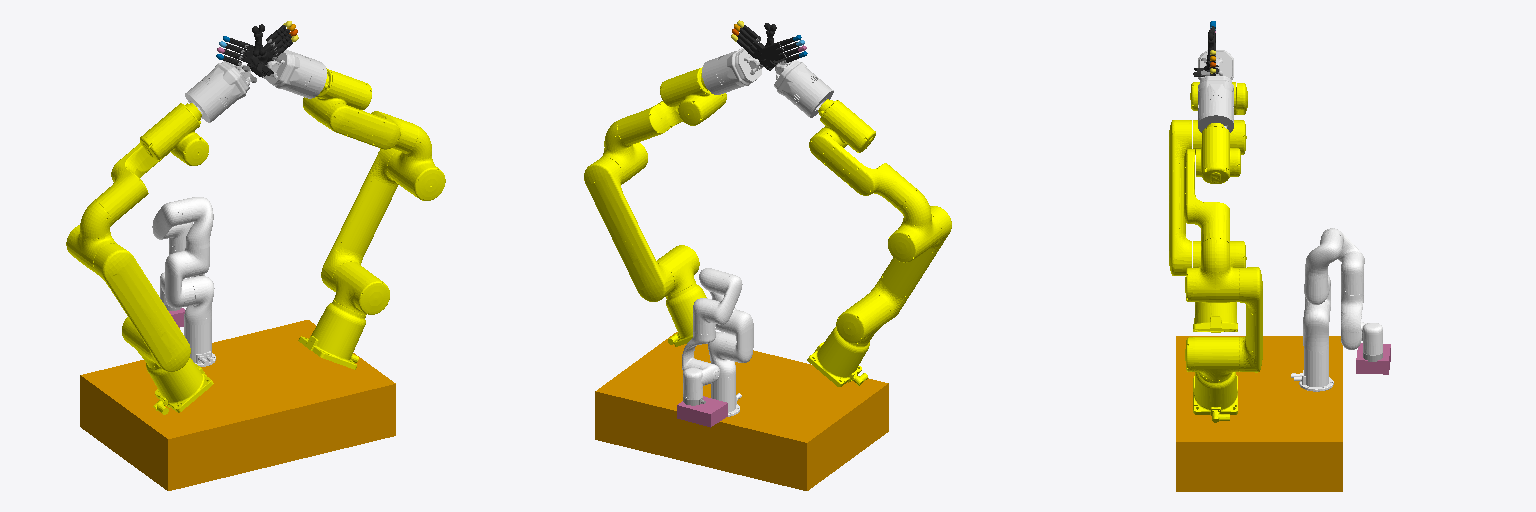
--- What the picture shows (computed from the rendered views, not written in the file) ---
Views: 3 orthographic renders of the robot side by side, from view 1: azimuth 30°, elevation 25°; view 2: azimuth 150°, elevation 25°; view 3: azimuth 270°, elevation 25°.
Model avatar with 100 links and 99 joints (66 revolute, 33 fixed), rooted at world, posed every joint at zero.
Visible links, largest first — view 1: avatar_mount_shopstand, gofa1_link_2, gofa2_link_2, xarm6_link2, gofa2_link_4, gofa2_base, gofa1_link_5, gofa2_link_3, gofa1_link_4, lh_forearm, gofa2_link_1, gofa1_base (+7 smaller); view 2: avatar_mount_shopstand, gofa2_link_2, gofa1_link_4, gofa1_link_2, gofa1_link_3, gofa1_base, gofa2_link_5, lh_forearm, rh_forearm, gofa1_link_1, xarm6_link2, gofa2_link_4 (+10 smaller); view 3: avatar_mount_shopstand, gofa1_link_2, gofa2_link_3, gofa2_link_2, gofa2_link_1, gofa2_link_4, gofa2_link_5, xarm6_link2, gofa2_base, rh_forearm, gofa1_base, xarm6_link1 (+8 smaller).
Link boxes in pixels (x1=…): avatar_mount_shopstand: x1=80, y1=320, x2=395, y2=490; gofa1_link_2: x1=93, y1=243, x2=190, y2=371; gofa2_link_2: x1=321, y1=148, x2=398, y2=291; xarm6_link2: x1=165, y1=197, x2=213, y2=308; gofa2_link_4: x1=326, y1=103, x2=417, y2=152; gofa2_base: x1=298, y1=300, x2=365, y2=369; gofa1_link_5: x1=140, y1=104, x2=208, y2=165; gofa2_link_3: x1=387, y1=125, x2=445, y2=200; gofa1_link_4: x1=94, y1=143, x2=169, y2=222; lh_forearm: x1=185, y1=61, x2=250, y2=122; gofa2_link_1: x1=332, y1=262, x2=389, y2=314; gofa1_base: x1=146, y1=358, x2=213, y2=414; avatar_mount_shopstand: x1=595, y1=332, x2=888, y2=490; gofa2_link_2: x1=584, y1=158, x2=674, y2=301; gofa1_link_4: x1=809, y1=132, x2=917, y2=210; gofa1_link_2: x1=866, y1=206, x2=951, y2=321; gofa1_link_3: x1=888, y1=190, x2=941, y2=262; gofa1_base: x1=807, y1=327, x2=869, y2=386; gofa2_link_5: x1=660, y1=68, x2=722, y2=125; lh_forearm: x1=774, y1=60, x2=833, y2=117; rh_forearm: x1=702, y1=48, x2=762, y2=94; gofa1_link_1: x1=836, y1=294, x2=890, y2=343; xarm6_link2: x1=699, y1=268, x2=753, y2=362; gofa2_link_4: x1=617, y1=93, x2=726, y2=144; avatar_mount_shopstand: x1=1176, y1=336, x2=1342, y2=491; gofa1_link_2: x1=1169, y1=120, x2=1191, y2=275; gofa2_link_3: x1=1185, y1=238, x2=1238, y2=302; gofa2_link_2: x1=1239, y1=267, x2=1262, y2=372; gofa2_link_1: x1=1185, y1=337, x2=1238, y2=380; gofa2_link_4: x1=1184, y1=149, x2=1229, y2=245; gofa2_link_5: x1=1196, y1=127, x2=1240, y2=183; xarm6_link2: x1=1304, y1=230, x2=1343, y2=308; gofa2_base: x1=1193, y1=372, x2=1237, y2=422; rh_forearm: x1=1198, y1=74, x2=1233, y2=132; gofa1_base: x1=1193, y1=302, x2=1237, y2=332; xarm6_link1: x1=1303, y1=301, x2=1330, y2=351.
Bounding box of the posed robot: 1.41 × 0.8133 × 1.63 m (x, y, z).
Meshes: 25 distinct files referenced, 67 mesh visuals loaded (25 OBJ).

URDF robot description (avatar):
<?xml version="1.0" ?>
<robot name="avatar" xmlns:controller="http://playerstage.sourceforge.net/gazebo/xmlschema/#controller" xmlns:interface="http://playerstage.sourceforge.net/gazebo/xmlschema/#interface" xmlns:sensor="http://playerstage.sourceforge.net/gazebo/xmlschema/#sensor">
  <!-- Avatar mounting shopstand, y forward, z up -->
  <link name="avatar_mount_shopstand">
    <visual>
      <origin rpy="0 0 0" xyz="0.4572 0.3048 -0.1"/>
      <geometry>
        <box size="0.9144 0.6096 0.2"/>
      </geometry>
    </visual>
  </link>
  <!-- World Connection -->
  <link name="world"/>
  <joint name="avatar_mount_shopstand" type="fixed">
    <parent link="world"/>
    <child link="avatar_mount_shopstand"/>
    <origin rpy="0.0 0.0 0.0" xyz="0.1 0.1 0.0"/>
  </joint>
  <!-- connect avatar mount shopstand to gofa 1 -->
  <joint name="gofa1_workspace" type="fixed">
    <parent link="avatar_mount_shopstand"/>
    <child link="gofa1_workspace"/>
    <origin rpy="0.0 0.0 0.0" xyz="0.1524 0.14605 0.0"/>
  </joint>
  <material name="Blue">
    <color rgba="0.0 0.0 0.8 1.0"/>
  </material>
  <material name="Green">
    <color rgba="0.0 0.8 0.0 1.0"/>
  </material>
  <material name="BiotacGreen">
    <color rgba="0.31 0.85 0.42 1.0"/>
  </material>
  <material name="Grey">
    <color rgba="0.2 0.2 0.2 1.0"/>
  </material>
  <material name="LightGrey">
    <color rgba="0.6 0.6 0.6 1.0"/>
  </material>
  <material name="Red">
    <color rgba="0.8 0.0 0.0 1.0"/>
  </material>
  <material name="White">
    <color rgba="1.0 1.0 1.0 1.0"/>
  </material>
  <gazebo>
    <plugin filename="libgazebo_ros_control.so" name="gazebo_ros_control">
      <robotSimType>sr_gazebo_sim/SrGazeboHWSim</robotSimType>
    </plugin>
  </gazebo>
  <!-- Conversion were obtained from http://www.e-paint.co.uk/Lab_values.asp
       unless otherwise stated. -->
  <!-- link list -->
  <link name="gofa1_base">
    <!-- See note 1 in package.xml about the inertial and mass values -->
    <inertial>
      <mass value="3.50083457958494"/>
      <origin xyz="-0.0012013793465437 -0.000175191786981708 0.0862146007385352"/>
      <inertia ixx="0.0153015257917955" ixy="-6.40155032892694E-05" ixz="-0.000276708687772683" iyy="0.0159333503953857" iyz="-3.98029144780725E-05" izz="0.0112162302268266"/>
    </inertial>
    <collision name="collision">
      <geometry>
        <mesh filename="avatar_model/abb_gofa/meshes/collision_obj/base.obj"/>
      </geometry>
    </collision>
    <visual name="visual">
      <geometry>
        <mesh filename="avatar_model/abb_gofa/meshes/visual_obj/base.obj"/>
      </geometry>
      <material name="">
        <color rgba="1 1 0 1"/>
      </material>
    </visual>
  </link>
  <link name="gofa1_link_1">
    <!-- See note 1 in package.xml about the inertial and mass values -->
    <inertial>
      <mass value="2.76743491139404"/>
      <origin xyz="2.08682453325091E-06 0.0103608399967513 0.0705307203199506"/>
      <inertia ixx="0.0115158625894577" ixy="6.37197693598838E-08" ixz="5.98954393680154E-09" iyy="0.006494848329231" iyz="-0.000196668400316843" izz="0.0109446835358581"/>
    </inertial>
    <collision name="collision">
      <geometry>
        <mesh filename="avatar_model/abb_gofa/meshes/collision_obj/link_1.obj"/>
      </geometry>
    </collision>
    <visual name="visual">
      <geometry>
        <mesh filename="avatar_model/abb_gofa/meshes/visual_obj/link_1.obj"/>
      </geometry>
      <material name="">
        <color rgba="1 1 0 1"/>
      </material>
    </visual>
  </link>
  <link name="gofa1_link_2">
    <!-- See note 1 in package.xml about the inertial and mass values -->
    <inertial>
      <mass value="4.2890416"/>
      <origin xyz="1.34018352211628E-06 -0.0500118376116071 0.222001399322246"/>
      <inertia ixx="0.130524729873898" ixy="1.31811857134115E-07" ixz="1.99022457670482E-06" iyy="0.133278449324229" iyz="-4.48622200366709E-07" izz="0.00669457974697178"/>
    </inertial>
    <collision name="collision">
      <geometry>
        <mesh filename="avatar_model/abb_gofa/meshes/collision_obj/link_2.obj"/>
      </geometry>
    </collision>
    <visual name="visual">
      <geometry>
        <mesh filename="avatar_model/abb_gofa/meshes/visual_obj/link_2.obj"/>
      </geometry>
      <material name="">
        <color rgba="1 1 0 1"/>
      </material>
    </visual>
  </link>
  <link name="gofa1_link_3">
    <!-- See note 1 in package.xml about the inertial and mass values -->
    <inertial>
      <mass value="3.38333107992875"/>
      <origin xyz="0.0128129281453599 0.0944171780907046 0.0247427540642403"/>
      <inertia ixx="0.0175626138728642" ixy="0.000364866179108744" ixz="-0.00318670290285352" iyy="0.0140230068919562" iyz="0.000704668055158407" izz="0.013275205067567"/>
    </inertial>
    <collision name="collision">
      <geometry>
        <mesh filename="avatar_model/abb_gofa/meshes/collision_obj/link_3.obj"/>
      </geometry>
    </collision>
    <visual name="visual">
      <geometry>
        <mesh filename="avatar_model/abb_gofa/meshes/visual_obj/link_3.obj"/>
      </geometry>
      <material name="">
        <color rgba="1 1 0 1"/>
      </material>
    </visual>
  </link>
  <link name="gofa1_link_4">
    <!-- See note 1 in package.xml about the inertial and mass values -->
    <inertial>
      <mass value="2.77857535641324"/>
      <origin xyz="0.160558561602322 0.041976811408979 -2.36623354021859E-07"/>
      <inertia ixx="0.00881683095901354" ixy="-0.010746260580237" ixz="1.2899930119841E-07" iyy="0.0340754175571832" iyz="3.96362791626429E-08" izz="0.0389358932156922"/>
    </inertial>
    <collision name="collision">
      <geometry>
        <mesh filename="avatar_model/abb_gofa/meshes/collision_obj/link_4.obj"/>
      </geometry>
    </collision>
    <visual name="visual">
      <geometry>
        <mesh filename="avatar_model/abb_gofa/meshes/visual_obj/link_4.obj"/>
      </geometry>
      <material name="">
        <color rgba="1 1 0 1"/>
      </material>
    </visual>
  </link>
  <link name="gofa1_link_5">
    <!-- See note 1 in package.xml about the inertial and mass values -->
    <inertial>
      <mass value="3.01105814739001"/>
      <origin xyz="-0.0147152361879962 -0.0785646469392633 0.0427558021601431"/>
      <inertia ixx="0.0114597336686444" ixy="0.000180094704361231" ixz="0.00165207280226761" iyy="0.013561904467501" iyz="-0.000525272443978826" izz="0.0108480119549914"/>
    </inertial>
    <collision name="collision">
      <geometry>
        <mesh filename="avatar_model/abb_gofa/meshes/collision_obj/link_5.obj"/>
      </geometry>
    </collision>
    <visual name="visual">
      <geometry>
        <mesh filename="avatar_model/abb_gofa/meshes/visual_obj/link_5.obj"/>
      </geometry>
      <material name="">
        <color rgba="1 1 0 1"/>
      </material>
    </visual>
  </link>
  <link name="gofa1_link_6">
    <!-- See note 1 in package.xml about the inertial and mass values -->
    <inertial>
      <mass value="0.146500988015653"/>
      <origin rpy="0 0 0" xyz="0.0137506852604966 0.000239804131398652 -0.000341962798940165"/>
      <inertia ixx="0.000128977630055306" ixy="-8.7622752508613E-08" ixz="1.18851551870012E-07" iyy="7.61118177829087E-05" iyz="-6.49821554399679E-07" izz="7.65022909768016E-05"/>
    </inertial>
    <!-- Meshlab calculated values (below) make gazebo crash when rotating this joint. -->
    <!-- <inertial>
        <mass value="0.00686711"/>
        <origin xyz="-0.00250976 -1.89e-06 0.00010218"/>
        <inertia ixx="1.3517e-06" ixy="-1.21316e-11" ixz="9.18065e-12" iyy="6.89813e-07" iyz="-1.21534e-10" izz="6.90097e-07"/>
      </inertial> -->
    <collision name="collision">
      <geometry>
        <mesh filename="avatar_model/abb_gofa/meshes/collision_obj/link_6.obj"/>
      </geometry>
    </collision>
    <visual name="visual">
      <geometry>
        <mesh filename="avatar_model/abb_gofa/meshes/visual_obj/link_6.obj"/>
      </geometry>
      <material name="">
        <color rgba="1 1 0 1"/>
      </material>
    </visual>
  </link>
  <!-- end of link list -->
  <!-- joint list -->
  <joint name="gofa1_joint_1" type="revolute">
    <origin rpy="0 0 0" xyz="0 0 0.1875"/>
    <axis xyz="0 0 1"/>
    <parent link="gofa1_base"/>
    <child link="gofa1_link_1"/>
    <!-- See note 2 in package.xml about effort limits and dynamics values -->
    <limit effort="1000" lower="-2.967" upper="2.967" velocity="5.027"/>
    <dynamics damping="50.0" friction="1.0"/>
  </joint>
  <joint name="gofa1_joint_2" type="revolute">
    <origin rpy="0 0 0" xyz="0 -0.085 0.0775"/>
    <axis xyz="0 1 0"/>
    <parent link="gofa1_link_1"/>
    <child link="gofa1_link_2"/>
    <!-- See note 2 in package.xml about effort limits and dynamics values -->
    <limit effort="1000" lower="-1.745" upper="2.269" velocity="4.189"/>
    <dynamics damping="50.0" friction="1.0"/>
  </joint>
  <joint name="gofa1_joint_3" type="revolute">
    <origin rpy="0 0 0" xyz="0 -0.00100000000000007 0.444"/>
    <axis xyz="0 1 0"/>
    <parent link="gofa1_link_2"/>
    <child link="gofa1_link_3"/>
    <!-- See note 2 in package.xml about effort limits and dynamics values -->
    <limit effort="1000" lower="-3.491" upper="1.222" velocity="5.236"/>
    <dynamics damping="10.0" friction="1.0"/>
  </joint>
  <joint name="gofa1_joint_4" type="revolute">
    <origin rpy="0 0 0" xyz="0.096 0.0860000000000001 0.11"/>
    <axis xyz="1 0 0"/>
    <parent link="gofa1_link_3"/>
    <child link="gofa1_link_4"/>
    <!-- See note 2 in package.xml about effort limits and dynamics values -->
    <limit effort="1000" lower="-4.712" upper="4.712" velocity="6.981"/>
    <dynamics damping="5.0" friction="1.0"/>
  </joint>
  <joint name="gofa1_joint_5" type="revolute">
    <origin rpy="0 0 0" xyz="0.374 0.0744999999999998 0"/>
    <axis xyz="0 1 0"/>
    <parent link="gofa1_link_4"/>
    <child link="gofa1_link_5"/>
    <!-- See note 2 in package.xml about effort limits and dynamics values -->
    <limit effort="1000" lower="-2.269" upper="2.269" velocity="7.069"/>
    <dynamics damping="2.0" friction="1.0"/>
  </joint>
  <joint name="gofa1_joint_6" type="revolute">
    <origin rpy="0 0 0" xyz="0.0679999999999995 -0.0744999999999998 0.0800000000000003"/>
    <axis xyz="1 0 0"/>
    <parent link="gofa1_link_5"/>
    <child link="gofa1_link_6"/>
    <!-- See note 2 in package.xml about effort limits and dynamics values -->
    <limit effort="1000" lower="-6.283" upper="6.283" velocity="10.472"/>
    <dynamics damping="1.0" friction="1.0"/>
  </joint>
  <!-- end of joint list -->
  <!-- ROS-Industrial 'base' frame- base_link to ABB World Coordinates transform -->
  <link name="gofa1_base_link"/>
  <joint name="gofa1_base_link-base" type="fixed">
    <origin rpy="0 0 0" xyz="0 0 0"/>
    <parent link="gofa1_base_link"/>
    <child link="gofa1_base"/>
  </joint>
  <!-- ROS-Industrial 'tool0' frame- all-zeros tool frame -->
  <link name="gofa1_tool0"/>
  <joint name="gofa1_link_6-tool0" type="fixed">
    <origin rpy="0 1.5708 0" xyz="0.0326 0 0"/>
    <parent link="gofa1_link_6"/>
    <child link="gofa1_tool0"/>
  </joint>
  <joint name="lh_world_joint" type="fixed">
    <parent link="gofa1_tool0"/>
    <child link="lh_forearm"/>
    <origin rpy="0.0 0.0 0.0" xyz="0.0 0.0 0.007"/>
  </joint>
  <link name="lh_forearm">
    <inertial>
      <origin rpy="0 0 0" xyz="0 0 0.09"/>
      <mass value="3.0"/>
      <inertia ixx="0.0138" ixy="0.0" ixz="0.0" iyy="0.0138" iyz="0.0" izz="0.00744"/>
    </inertial>
    <visual>
      <origin rpy="0 0 0" xyz="0 0 0.0"/>
      <geometry name="lh_forearm_visual">
        <mesh filename="avatar_model/shadow_hand/meshes_drake/forearm_e3m5.obj" scale="0.001 0.001 0.001"/>
      </geometry>
      <material name="light_grey">
        <color rgba="0.90000 0.90000 0.90000 1.0"/>
      </material>
    </visual>
    <collision>
      <origin rpy="0 0 0" xyz="0 0 0.0"/>
      <geometry name="lh_forearm_collision">
        <mesh filename="avatar_model/shadow_hand/meshes_drake/forearm_collision_e3m5.obj" scale="0.001 0.001 0.001"/>
      </geometry>
    </collision>
    <!-- wrist mount -->
    <collision>
      <origin rpy="0 0.78 0" xyz="0 -0.01 0.181"/>
      <geometry>
        <box size="0.07 0.07 0.07"/>
      </geometry>
    </collision>
    <!-- TODO: Make a decision on whether to add the connector or not -->
    <!--visual>
        <origin rpy="0 -1.57 -1.57" xyz="0.0 0.067 0.0045"/>
        <geometry name="${prefix}cable_extr_visualisation">
          <mesh filename="avatar_model/shadow_hand/meshes/collision_obj/cable_connector/cable_connector_base_${hand_version}.dae" scale="0.001 0.001 0.001" />
        </geometry>
      </visual-->
  </link>
  <gazebo reference="lh_forearm">
    <selfCollide>false</selfCollide>
  </gazebo>
  <link name="lh_wrist">
    <inertial>
      <origin rpy="0 0 0" xyz="0 0 0.029"/>
      <mass value="0.1"/>
      <inertia ixx="0.000035" ixy="0.0" ixz="0.0" iyy="0.000064" iyz="0.0" izz="0.0000438"/>
    </inertial>
    <visual>
      <origin rpy="0 0 0" xyz="0 0 0"/>
      <geometry name="lh_wrist_visual">
        <mesh filename="avatar_model/shadow_hand/meshes_drake/wrist_e3m5.obj" scale="0.001 0.001 0.001"/>
      </geometry>
      <material name="LightGrey"/>
    </visual>
    <collision>
      <origin rpy="1.5708 1.5708 0" xyz="0 0 0"/>
      <geometry name="lh_wrist_collision_geom">
        <cylinder length="0.030" radius="0.0135"/>
      </geometry>
    </collision>
    <collision>
      <origin rpy="0 1.5708 0" xyz="0.026 0 0.034"/>
      <geometry>
        <cylinder length="0.010" radius="0.011"/>
      </geometry>
    </collision>
    <collision>
      <origin rpy="0 1.5708 0" xyz="-0.031 0 0.034"/>
      <geometry>
        <cylinder length="0.010" radius="0.011"/>
      </geometry>
    </collision>
    <collision>
      <origin rpy="0 -0.7854 0" xyz="0.021 0 0.011"/>
      <geometry>
        <box size="0.027 0.018 0.010"/>
      </geometry>
    </collision>
    <collision>
      <origin rpy="0 0.7854 0" xyz="-0.026 0 0.010"/>
      <geometry>
        <box size="0.027 0.018 0.010"/>
      </geometry>
    </collision>
  </link>
  <gazebo reference="lh_wrist">
    <material>Gazebo/White</material>
    <selfCollide>false</selfCollide>
  </gazebo>
  <joint name="lh_WRJ2" type="revolute">
    <parent link="lh_forearm"/>
    <child link="lh_wrist"/>
    <origin rpy="0 0 0" xyz="0 -0.010 0.21301"/>
    <axis xyz="0 -1 0"/>
    <limit effort="10" lower="-0.5235987755982988" upper="0.17453292519943295" velocity="2.0"/>
    <dynamics damping="0.1"/>
  </joint>
  <gazebo reference="lh_WRJ2">
    <provideFeedback>1</provideFeedback>
    <implicitSpringDamper>1</implicitSpringDamper>
  </gazebo>
  <transmission name="lh_wrist_transmission">
    <type>sr_mechanism_model/SimpleTransmission</type>
    <actuator name="lh_WRJ2">
      <mechanicalReduction>1</mechanicalReduction>
    </actuator>
    <joint name="lh_WRJ2">
      <hardwareInterface>EffortJointInterface</hardwareInterface>
      <hardwareInterface>PositionJointInterface</hardwareInterface>
    </joint>
  </transmission>
  <link name="lh_palm">
    <inertial>
      <origin rpy="0 0 0" xyz="0 0 0.035"/>
      <mass value="0.3"/>
      <inertia ixx="0.0003581" ixy="0.0" ixz="0.0" iyy="0.0005287" iyz="0.0" izz="0.000191"/>
    </inertial>
    <visual>
      <origin rpy="0 0 0" xyz="0 0 0"/>
      <geometry name="lh_palm_visual">
        <mesh filename="avatar_model/shadow_hand/meshes_drake/palm_e3m5.obj" scale="0.001 0.001 0.001"/>
      </geometry>
      <material name="Grey"/>
    </visual>
    <collision>
      <origin rpy="0 0 0" xyz="-0.011 0.0085 0.038"/>
      <geometry name="lh_palm_collision_geom">
        <box size="0.062 0.007 0.098"/>
      </geometry>
    </collision>
    <collision>
      <origin rpy="0 0 0" xyz="0.002 -0.0035 0.038"/>
      <geometry>
        <box size="0.036 0.017 0.098"/>
      </geometry>
    </collision>
    <!-- palm complement below first finger -->
    <collision>
      <origin rpy="0 0 0" xyz="-0.029 -0.0035 0.082"/>
      <geometry>
        <box size="0.026 0.017 0.010"/>
      </geometry>
    </collision>
    <collision>
      <origin rpy="0.2 0 -0.25" xyz="-0.0265 -0.001 0.070"/>
      <geometry>
        <box size="0.026 0.014 0.018"/>
      </geometry>
    </collision>
    <!-- thumb pulp side -->
    <collision>
      <origin rpy="0 0 0" xyz="-0.0315 -0.0085 0.001"/>
      <geometry>
        <box size="0.021 0.027 0.024"/>
      </geometry>
    </collision>
    <!-- thumb pulp central -->
    <collision>
      <origin rpy="0 0 0.48" xyz="-0.0125 -0.015 0.009"/>
      <geometry>
        <box size="0.022 0.005 0.040"/>
      </geometry>
    </collision>
    <!-- above middle finger-->
    <collision>
      <origin rpy="0 0 0" xyz="-0.011 0 0.089"/>
      <geometry>
        <box size="0.018 0.024 0.004"/>
      </geometry>
    </collision>
    <!-- metacarpal side-->
    <collision>
      <origin rpy="0 0 0" xyz="0.03 0 0.009"/>
      <geometry>
        <box size="0.020 0.024 0.040"/>
      </geometry>
    </collision>
  </link>
  <joint name="lh_ee_fixed_joint" type="fixed">
    <parent link="lh_palm"/>
    <child link="lh_manipulator"/>
    <origin rpy="0.0 0.0 0.0" xyz="0.0 0.0 0.05"/>
  </joint>
  <link name="lh_manipulator"/>
  <joint name="lh_WRJ1" type="revolute">
    <parent link="lh_wrist"/>
    <child link="lh_palm"/>
    <origin rpy="0 0 0" xyz="0 0 0.034"/>
    <axis xyz="1 0 0"/>
    <limit effort="30" lower="-0.6981317007977318" upper="0.4886921905584123" velocity="2.0"/>
    <dynamics damping="0.1"/>
  </joint>
  <gazebo reference="lh_WRJ1">
    <provideFeedback>1</provideFeedback>
    <implicitSpringDamper>1</implicitSpringDamper>
  </gazebo>
  <link name="lh_imu"/>
  <joint name="lh_palm_to_imu" type="fixed">
    <parent link="lh_palm"/>
    <child link="lh_imu"/>
    <origin rpy="-1.5707963 3.141592 0.0" xyz="0.01785 0.00765 0.049125"/>
  </joint>
  <transmission name="lh_palm_transmission">
    <type>sr_mechanism_model/SimpleTransmission</type>
    <actuator name="lh_WRJ1">
      <mechanicalReduction>1</mechanicalReduction>
    </actuator>
    <joint name="lh_WRJ1">
      <hardwareInterface>EffortJointInterface</hardwareInterface>
      <hardwareInterface>PositionJointInterface</hardwareInterface>
    </joint>
  </transmission>
  <gazebo reference="lh_palm">
  </gazebo>
  <link name="lh_ffknuckle">
    <inertial>
      <origin rpy="0 0 0" xyz="0 0 0"/>
      <mass value="0.008"/>
      <inertia ixx="0.00000026" ixy="0.0" ixz="0.0" iyy="0.00000026" iyz="0.0" izz="0.00000032"/>
    </inertial>
    <visual>
      <origin rpy="0 0 0" xyz="0 0 0.0005"/>
      <geometry name="lh_ffknuckle_visual">
        <mesh filename="avatar_model/shadow_hand/meshes_drake/f_knuckle_e3m5.obj" scale="0.001 0.001 0.001"/>
      </geometry>
      <material name="LightGrey"/>
    </visual>
    <collision>
      <origin rpy="0 1.5708 0" xyz="0 0 0"/>
      <geometry name="lh_ffknuckle_collision_geom">
        <cylinder length="0.014" radius="0.007"/>
      </geometry>
    </collision>
  </link>
  <joint name="lh_FFJ4" type="revolute">
    <parent link="lh_palm"/>
    <child link="lh_ffknuckle"/>
    <!--<origin xyz="0.033 0 0.095" rpy="0 0 0" />-->
    <origin rpy="0 0 0" xyz="-0.033 0 0.095"/>
    <axis xyz="0 1 0"/>
    <limit effort="2" lower="-0.3490658503988659" upper="0.3490658503988659" velocity="2.0"/>
    <dynamics damping="0.1"/>
  </joint>
  <gazebo reference="lh_FFJ4">
    <provideFeedback>1</provideFeedback>
    <implicitSpringDamper>1</implicitSpringDamper>
  </gazebo>
  <transmission name="lh_ffknuckle_transmission">
    <type>sr_mechanism_model/SimpleTransmission</type>
    <actuator name="lh_FFJ4">
      <mechanicalReduction>1</mechanicalReduction>
    </actuator>
    <joint name="lh_FFJ4">
      <hardwareInterface>EffortJointInterface</hardwareInterface>
      <hardwareInterface>PositionJointInterface</hardwareInterface>
    </joint>
  </transmission>
  <gazebo reference="lh_ffknuckle">
    <!-- knuckle is not highly exposed, so bumper is not useful -->
    <material>Gazebo/Grey</material>
  </gazebo>
  <link name="lh_ffproximal">
    <inertial>
      <mass value="0.030"/>
      <origin xyz="0 0 0.0225"/>
      <inertia ixx="0.0000098" ixy="0.0" ixz="0.0" iyy="0.00001" iyz="0.0" izz="0.0000018"/>
    </inertial>
    <visual>
      <origin rpy="0 0 0" xyz="0 0 0"/>
      <geometry name="lh_ffproximal_visual">
        <mesh filename="avatar_model/shadow_hand/meshes_drake/f_proximal_e3m5.obj" scale="0.001 0.001 0.001"/>
      </geometry>
      <material name="Grey"/>
    </visual>
    <collision>
      <origin rpy="0 0 0" xyz="0 0 0.025"/>
      <geometry name="lh_ffproximal_collision_geom">
        <cylinder length="0.040" radius="0.007"/>
      </geometry>
    </collision>
  </link>
  <joint name="lh_FFJ3" type="revolute">
    <parent link="lh_ffknuckle"/>
    <child link="lh_ffproximal"/>
    <origin rpy="0 0 0" xyz="0 0 0"/>
    <axis xyz="1 0 0"/>
    <limit effort="2" lower="-0.2617993877991494" upper="1.5707963267948966" velocity="2.0"/>
    <dynamics damping="0.1"/>
  </joint>
  <gazebo reference="lh_FFJ3">
    <provideFeedback>1</provideFeedback>
    <implicitSpringDamper>1</implicitSpringDamper>
  </gazebo>
  <transmission name="lh_ffproximal_transmission">
    <type>sr_mechanism_model/SimpleTransmission</type>
    <actuator name="lh_FFJ3">
      <mechanicalReduction>1</mechanicalReduction>
    </actuator>
    <joint name="lh_FFJ3">
      <hardwareInterface>EffortJointInterface</hardwareInterface>
      <hardwareInterface>PositionJointInterface</hardwareInterface>
    </joint>
  </transmission>
  <gazebo reference="lh_ffproximal">
    <selfCollide>true</selfCollide>
  </gazebo>
  <link name="lh_ffmiddle">
    <inertial>
      <origin rpy="0 0 0" xyz="0 0 0.0125"/>
      <mass value="0.017"/>
      <inertia ixx="0.0000026" ixy="0.0" ixz="0.0" iyy="0.0000027" iyz="0.0" izz="0.00000087"/>
    </inertial>
    <visual>
      <origin rpy="0 0 0" xyz="0 0 0"/>
      <geometry name="lh_ffmiddle_visual">
        <mesh filename="avatar_model/shadow_hand/meshes_drake/f_middle_e3m5.obj" scale="0.001 0.001 0.001"/>
      </geometry>
      <material name="Grey"/>
    </visual>
    <collision>
      <origin rpy="0 0 0" xyz="0 0 0.0125"/>
      <geometry name="lh_ffmiddle_collision_geom">
        <cylinder length="0.025" radius="0.007"/>
      </geometry>
    </collision>
    <collision>
      <origin rpy="0 0 0" xyz="0 0 0.0"/>
      <geometry>
        <sphere radius="0.007"/>
      </geometry>
    </collision>
    <collision>
      <origin rpy="0 0 0" xyz="0 0 0.025"/>
      <geometry>
        <sphere radius="0.007"/>
      </geometry>
    </collision>
  </link>
  <joint name="lh_FFJ2" type="revolute">
    <parent link="lh_ffproximal"/>
    <child link="lh_ffmiddle"/>
    <origin rpy="0 0 0" xyz="0 0 0.045"/>
    <axis xyz="1 0 0"/>
    <limit effort="2" lower="0" upper="1.5707963267948966" velocity="2.0"/>
    <dynamics damping="0.1"/>
  </joint>
  <gazebo reference="lh_FFJ2">
    <provideFeedback>1</provideFeedback>
    <implicitSpringDamper>1</implicitSpringDamper>
  </gazebo>
  <transmission name="lh_ffmiddle_transmission">
    <type>sr_mechanism_model/J0Transmission</type>
    <actuator name="lh_FFJ0">
      <mechanicalReduction>1</mechanicalReduction>
    </actuator>
    <joint name="lh_FFJ1">
      <hardwareInterface>EffortJointInterface</hardwareInterface>
      <hardwareInterface>PositionJointInterface</hardwareInterface>
    </joint>
  </transmission>
  <gazebo reference="lh_ffmiddle">
    <selfCollide>true</selfCollide>
  </gazebo>
  <link name="lh_ffdistal">
    <inertial>
      <mass value="0.012"/>
      <origin xyz="0 0 0.012"/>
      <inertia ixx="0.00000094" ixy="0.0" ixz="0.0" iyy="0.0000011" iyz="0.0" izz="0.00000053"/>
    </inertial>
    <visual>
      <origin rpy="0 0 0" xyz="0 0 0"/>
      <geometry name="lh_ffdistal_visual">
        <mesh filename="avatar_model/shadow_hand/meshes_drake/f_distal_bt_sp.obj" scale="0.001 0.001 0.001"/>
      </geometry>
    </visual>
    <collision>
      <origin rpy="0 0 0" xyz="0 0 0"/>
      <geometry name="lh_ffdistal_collision_geom">
        <mesh filename="avatar_model/shadow_hand/meshes_drake/f_distal_bt_sp.obj" scale="0.001 0.001 0.001"/>
      </geometry>
    </collision>
  </link>
  <joint name="lh_FFJ1" type="revolute">
    <parent link="lh_ffmiddle"/>
    <child link="lh_ffdistal"/>
    <origin rpy="0 0 0" xyz="0 0 0.025"/>
    <axis xyz="1 0 0"/>
    <!-- standard distal joint -->
    <limit effort="2" lower="0" upper="1.5707963267948966" velocity="2.0"/>
    <dynamics damping="0.1"/>
  </joint>
  <gazebo reference="lh_FFJ1">
    <provideFeedback>1</provideFeedback>
    <implicitSpringDamper>1</implicitSpringDamper>
  </gazebo>
  <link name="lh_fftip">
    <inertial>
      <mass value="0.001"/>
      <inertia ixx="0.0" ixy="0.0" ixz="0.0" iyy="0.0" iyz="0.0" izz="0.0"/>
    </inertial>
  </link>
  <joint name="lh_FFtip" type="fixed">
    <parent link="lh_ffdistal"/>
    <child link="lh_fftip"/>
    <origin rpy="0 0 0" xyz="0 0 0.026"/>
  </joint>
  <gazebo reference="lh_ffdistal">
    <sensor name="lh_ffdistal_contact" type="contact">
      <always_on>1</always_on>
      <update_rate>1000.0</update_rate>
      <contact>
        <collision>lh_ffdistal_collision</collision>
        <topic>lh_ffdistal_collision</topic>
      </contact>
      <plugin filename="libgazebo_ros_bumper.so" name="lh_ffdistal_gazebo_ros_bumper_controller">
        <alwaysOn>true</alwaysOn>
        <frameName>lh_ffdistal</frameName>
        <updateRate>100.0</updateRate>
        <bumperTopicName>contacts/lh_ff/distal</bumperTopicName>
      </plugin>
    </sensor>
    <mu1 value="500.0"/>
    <mu2 value="500.0"/>
    <kp value="10000000.0"/>
    <kd value="1.0"/>
    <selfCollide>true</selfCollide>
  </gazebo>
  <link name="lh_mfknuckle">
    <inertial>
      <origin rpy="0 0 0" xyz="0 0 0"/>
      <mass value="0.008"/>
      <inertia ixx="0.00000026" ixy="0.0" ixz="0.0" iyy="0.00000026" iyz="0.0" izz="0.00000032"/>
    </inertial>
    <visual>
      <origin rpy="0 0 0" xyz="0 0 0.0005"/>
      <geometry name="lh_mfknuckle_visual">
        <mesh filename="avatar_model/shadow_hand/meshes_drake/f_knuckle_e3m5.obj" scale="0.001 0.001 0.001"/>
      </geometry>
      <material name="LightGrey"/>
    </visual>
    <collision>
      <origin rpy="0 1.5708 0" xyz="0 0 0"/>
      <geometry name="lh_mfknuckle_collision_geom">
        <cylinder length="0.014" radius="0.007"/>
      </geometry>
    </collision>
  </link>
  <joint name="lh_MFJ4" type="revolute">
    <parent link="lh_palm"/>
    <child link="lh_mfknuckle"/>
    <!--<origin xyz="0.033 0 0.095" rpy="0 0 0" />-->
    <origin rpy="0 0 0" xyz="-0.011 0 0.099"/>
    <axis xyz="0 1 0"/>
    <limit effort="2" lower="-0.3490658503988659" upper="0.3490658503988659" velocity="2.0"/>
    <dynamics damping="0.1"/>
  </joint>
  <gazebo reference="lh_MFJ4">
    <provideFeedback>1</provideFeedback>
    <implicitSpringDamper>1</implicitSpringDamper>
  </gazebo>
  <transmission name="lh_mfknuckle_transmission">
    <type>sr_mechanism_model/SimpleTransmission</type>
    <actuator name="lh_MFJ4">
      <mechanicalReduction>1</mechanicalReduction>
    </actuator>
    <joint name="lh_MFJ4">
      <hardwareInterface>EffortJointInterface</hardwareInterface>
      <hardwareInterface>PositionJointInterface</hardwareInterface>
    </joint>
  </transmission>
  <gazebo reference="lh_mfknuckle">
    <!-- knuckle is not highly exposed, so bumper is not useful -->
    <material>Gazebo/Grey</material>
  </gazebo>
  <link name="lh_mfproximal">
    <inertial>
      <mass value="0.030"/>
      <origin xyz="0 0 0.0225"/>
      <inertia ixx="0.0000098" ixy="0.0" ixz="0.0" iyy="0.00001" iyz="0.0" izz="0.0000018"/>
    </inertial>
    <visual>
      <origin rpy="0 0 0" xyz="0 0 0"/>
      <geometry name="lh_mfproximal_visual">
        <mesh filename="avatar_model/shadow_hand/meshes_drake/f_proximal_e3m5.obj" scale="0.001 0.001 0.001"/>
      </geometry>
      <material name="Grey"/>
    </visual>
    <collision>
      <origin rpy="0 0 0" xyz="0 0 0.025"/>
      <geometry name="lh_mfproximal_collision_geom">
        <cylinder length="0.040" radius="0.007"/>
      </geometry>
    </collision>
  </link>
  <joint name="lh_MFJ3" type="revolute">
    <parent link="lh_mfknuckle"/>
    <child link="lh_mfproximal"/>
    <origin rpy="0 0 0" xyz="0 0 0"/>
    <axis xyz="1 0 0"/>
    <limit effort="2" lower="-0.2617993877991494" upper="1.5707963267948966" velocity="2.0"/>
    <dynamics damping="0.1"/>
  </joint>
  <gazebo reference="lh_MFJ3">
    <provideFeedback>1</provideFeedback>
    <implicitSpringDamper>1</implicitSpringDamper>
  </gazebo>
  <transmission name="lh_mfproximal_transmission">
    <type>sr_mechanism_model/SimpleTransmission</type>
    <actuator name="lh_MFJ3">
      <mechanicalReduction>1</mechanicalReduction>
    </actuator>
    <joint name="lh_MFJ3">
      <hardwareInterface>EffortJointInterface</hardwareInterface>
      <hardwareInterface>PositionJointInterface</hardwareInterface>
    </joint>
  </transmission>
  <gazebo reference="lh_mfproximal">
    <selfCollide>true</selfCollide>
  </gazebo>
  <link name="lh_mfmiddle">
    <inertial>
      <origin rpy="0 0 0" xyz="0 0 0.0125"/>
      <mass value="0.017"/>
      <inertia ixx="0.0000026" ixy="0.0" ixz="0.0" iyy="0.0000027" iyz="0.0" izz="0.00000087"/>
    </inertial>
    <visual>
      <origin rpy="0 0 0" xyz="0 0 0"/>
      <geometry name="lh_mfmiddle_visual">
        <mesh filename="avatar_model/shadow_hand/meshes_drake/f_middle_e3m5.obj" scale="0.001 0.001 0.001"/>
      </geometry>
      <material name="Grey"/>
    </visual>
    <collision>
      <origin rpy="0 0 0" xyz="0 0 0.0125"/>
      <geometry name="lh_mfmiddle_collision_geom">
        <cylinder length="0.025" radius="0.007"/>
      </geometry>
    </collision>
    <collision>
      <origin rpy="0 0 0" xyz="0 0 0.0"/>
      <geometry>
        <sphere radius="0.007"/>
      </geometry>
    </collision>
    <collision>
      <origin rpy="0 0 0" xyz="0 0 0.025"/>
      <geometry>
        <sphere radius="0.007"/>
      </geometry>
    </collision>
  </link>
  <joint name="lh_MFJ2" type="revolute">
    <parent link="lh_mfproximal"/>
    <child link="lh_mfmiddle"/>
    <origin rpy="0 0 0" xyz="0 0 0.045"/>
    <axis xyz="1 0 0"/>
    <limit effort="2" lower="0" upper="1.5707963267948966" velocity="2.0"/>
    <dynamics damping="0.1"/>
  </joint>
  <gazebo reference="lh_MFJ2">
    <provideFeedback>1</provideFeedback>
    <implicitSpringDamper>1</implicitSpringDamper>
  </gazebo>
  <transmission name="lh_mfmiddle_transmission">
    <type>sr_mechanism_model/J0Transmission</type>
    <actuator name="lh_MFJ0">
      <mechanicalReduction>1</mechanicalReduction>
    </actuator>
    <joint name="lh_MFJ1">
      <hardwareInterface>EffortJointInterface</hardwareInterface>
      <hardwareInterface>PositionJointInterface</hardwareInterface>
    </joint>
  </transmission>
  <gazebo reference="lh_mfmiddle">
    <selfCollide>true</selfCollide>
  </gazebo>
  <link name="lh_mfdistal">
    <inertial>
      <mass value="0.012"/>
      <origin xyz="0 0 0.012"/>
      <inertia ixx="0.00000094" ixy="0.0" ixz="0.0" iyy="0.0000011" iyz="0.0" izz="0.00000053"/>
    </inertial>
    <visual>
      <origin rpy="0 0 0" xyz="0 0 0"/>
      <geometry name="lh_mfdistal_visual">
        <mesh filename="avatar_model/shadow_hand/meshes_drake/f_distal_bt_sp.obj" scale="0.001 0.001 0.001"/>
      </geometry>
    </visual>
    <collision>
      <origin rpy="0 0 0" xyz="0 0 0"/>
      <geometry name="lh_mfdistal_collision_geom">
        <mesh filename="avatar_model/shadow_hand/meshes_drake/f_distal_bt_sp.obj" scale="0.001 0.001 0.001"/>
      </geometry>
    </collision>
  </link>
  <joint name="lh_MFJ1" type="revolute">
    <parent link="lh_mfmiddle"/>
    <child link="lh_mfdistal"/>
    <origin rpy="0 0 0" xyz="0 0 0.025"/>
    <axis xyz="1 0 0"/>
    <!-- standard distal joint -->
    <limit effort="2" lower="0" upper="1.5707963267948966" velocity="2.0"/>
    <dynamics damping="0.1"/>
  </joint>
  <gazebo reference="lh_MFJ1">
    <provideFeedback>1</provideFeedback>
    <implicitSpringDamper>1</implicitSpringDamper>
  </gazebo>
  <link name="lh_mftip">
    <inertial>
      <mass value="0.001"/>
      <inertia ixx="0.0" ixy="0.0" ixz="0.0" iyy="0.0" iyz="0.0" izz="0.0"/>
    </inertial>
  </link>
  <joint name="lh_MFtip" type="fixed">
    <parent link="lh_mfdistal"/>
    <child link="lh_mftip"/>
    <origin rpy="0 0 0" xyz="0 0 0.026"/>
  </joint>
  <gazebo reference="lh_mfdistal">
    <sensor name="lh_mfdistal_contact" type="contact">
      <always_on>1</always_on>
      <update_rate>1000.0</update_rate>
      <contact>
        <collision>lh_mfdistal_collision</collision>
        <topic>lh_mfdistal_collision</topic>
      </contact>
      <plugin filename="libgazebo_ros_bumper.so" name="lh_mfdistal_gazebo_ros_bumper_controller">
        <alwaysOn>true</alwaysOn>
        <frameName>lh_mfdistal</frameName>
        <updateRate>100.0</updateRate>
        <bumperTopicName>contacts/lh_mf/distal</bumperTopicName>
      </plugin>
    </sensor>
    <mu1 value="500.0"/>
    <mu2 value="500.0"/>
    <kp value="10000000.0"/>
    <kd value="1.0"/>
    <selfCollide>true</selfCollide>
  </gazebo>
  <link name="lh_rfknuckle">
    <inertial>
      <origin rpy="0 0 0" xyz="0 0 0"/>
      <mass value="0.008"/>
      <inertia ixx="0.00000026" ixy="0.0" ixz="0.0" iyy="0.00000026" iyz="0.0" izz="0.00000032"/>
    </inertial>
    <visual>
      <origin rpy="0 0 0" xyz="0 0 0.0005"/>
      <geometry name="lh_rfknuckle_visual">
        <mesh filename="avatar_model/shadow_hand/meshes_drake/f_knuckle_e3m5.obj" scale="0.001 0.001 0.001"/>
      </geometry>
      <material name="LightGrey"/>
    </visual>
    <collision>
      <origin rpy="0 1.5708 0" xyz="0 0 0"/>
      <geometry name="lh_rfknuckle_collision_geom">
        <cylinder length="0.014" radius="0.007"/>
      </geometry>
    </collision>
  </link>
  <joint name="lh_RFJ4" type="revolute">
    <parent link="lh_palm"/>
    <child link="lh_rfknuckle"/>
    <!--<origin xyz="0.033 0 0.095" rpy="0 0 0" />-->
    <origin rpy="0 0 0" xyz="0.011 0 0.095"/>
    <axis xyz="0 -1 0"/>
    <limit effort="2" lower="-0.3490658503988659" upper="0.3490658503988659" velocity="2.0"/>
    <dynamics damping="0.1"/>
  </joint>
  <gazebo reference="lh_RFJ4">
    <provideFeedback>1</provideFeedback>
    <implicitSpringDamper>1</implicitSpringDamper>
  </gazebo>
  <transmission name="lh_rfknuckle_transmission">
    <type>sr_mechanism_model/SimpleTransmission</type>
    <actuator name="lh_RFJ4">
      <mechanicalReduction>1</mechanicalReduction>
    </actuator>
    <joint name="lh_RFJ4">
      <hardwareInterface>EffortJointInterface</hardwareInterface>
      <hardwareInterface>PositionJointInterface</hardwareInterface>
    </joint>
  </transmission>
  <gazebo reference="lh_rfknuckle">
    <!-- knuckle is not highly exposed, so bumper is not useful -->
    <material>Gazebo/Grey</material>
  </gazebo>
  <link name="lh_rfproximal">
    <inertial>
      <mass value="0.030"/>
      <origin xyz="0 0 0.0225"/>
      <inertia ixx="0.0000098" ixy="0.0" ixz="0.0" iyy="0.00001" iyz="0.0" izz="0.0000018"/>
    </inertial>
    <visual>
      <origin rpy="0 0 0" xyz="0 0 0"/>
      <geometry name="lh_rfproximal_visual">
        <mesh filename="avatar_model/shadow_hand/meshes_drake/f_proximal_e3m5.obj" scale="0.001 0.001 0.001"/>
      </geometry>
      <material name="Grey"/>
    </visual>
    <collision>
      <origin rpy="0 0 0" xyz="0 0 0.025"/>
      <geometry name="lh_rfproximal_collision_geom">
        <cylinder length="0.040" radius="0.007"/>
      </geometry>
    </collision>
  </link>
  <joint name="lh_RFJ3" type="revolute">
    <parent link="lh_rfknuckle"/>
    <child link="lh_rfproximal"/>
    <origin rpy="0 0 0" xyz="0 0 0"/>
    <axis xyz="1 0 0"/>
    <limit effort="2" lower="-0.2617993877991494" upper="1.5707963267948966" velocity="2.0"/>
    <dynamics damping="0.1"/>
  </joint>
  <gazebo reference="lh_RFJ3">
    <provideFeedback>1</provideFeedback>
    <implicitSpringDamper>1</implicitSpringDamper>
  </gazebo>
  <transmission name="lh_rfproximal_transmission">
    <type>sr_mechanism_model/SimpleTransmission</type>
    <actuator name="lh_RFJ3">
      <mechanicalReduction>1</mechanicalReduction>
    </actuator>
    <joint name="lh_RFJ3">
      <hardwareInterface>EffortJointInterface</hardwareInterface>
      <hardwareInterface>PositionJointInterface</hardwareInterface>
    </joint>
  </transmission>
  <gazebo reference="lh_rfproximal">
    <selfCollide>true</selfCollide>
  </gazebo>
  <link name="lh_rfmiddle">
    <inertial>
      <origin rpy="0 0 0" xyz="0 0 0.0125"/>
      <mass value="0.017"/>
      <inertia ixx="0.0000026" ixy="0.0" ixz="0.0" iyy="0.0000027" iyz="0.0" izz="0.00000087"/>
    </inertial>
    <visual>
      <origin rpy="0 0 0" xyz="0 0 0"/>
      <geometry name="lh_rfmiddle_visual">
        <mesh filename="avatar_model/shadow_hand/meshes_drake/f_middle_e3m5.obj" scale="0.001 0.001 0.001"/>
      </geometry>
      <material name="Grey"/>
    </visual>
    <collision>
      <origin rpy="0 0 0" xyz="0 0 0.0125"/>
      <geometry name="lh_rfmiddle_collision_geom">
        <cylinder length="0.025" radius="0.007"/>
      </geometry>
    </collision>
    <collision>
      <origin rpy="0 0 0" xyz="0 0 0.0"/>
      <geometry>
        <sphere radius="0.007"/>
      </geometry>
    </collision>
    <collision>
      <origin rpy="0 0 0" xyz="0 0 0.025"/>
      <geometry>
        <sphere radius="0.007"/>
      </geometry>
    </collision>
  </link>
  <joint name="lh_RFJ2" type="revolute">
    <parent link="lh_rfproximal"/>
    <child link="lh_rfmiddle"/>
    <origin rpy="0 0 0" xyz="0 0 0.045"/>
    <axis xyz="1 0 0"/>
    <limit effort="2" lower="0" upper="1.5707963267948966" velocity="2.0"/>
    <dynamics damping="0.1"/>
  </joint>
  <gazebo reference="lh_RFJ2">
    <provideFeedback>1</provideFeedback>
    <implicitSpringDamper>1</implicitSpringDamper>
  </gazebo>
  <transmission name="lh_rfmiddle_transmission">
    <type>sr_mechanism_model/J0Transmission</type>
    <actuator name="lh_RFJ0">
      <mechanicalReduction>1</mechanicalReduction>
    </actuator>
    <joint name="lh_RFJ1">
      <hardwareInterface>EffortJointInterface</hardwareInterface>
      <hardwareInterface>PositionJointInterface</hardwareInterface>
    </joint>
  </transmission>
  <gazebo reference="lh_rfmiddle">
    <selfCollide>true</selfCollide>
  </gazebo>
  <link name="lh_rfdistal">
    <inertial>
      <mass value="0.012"/>
      <origin xyz="0 0 0.012"/>
      <inertia ixx="0.00000094" ixy="0.0" ixz="0.0" iyy="0.0000011" iyz="0.0" izz="0.00000053"/>
    </inertial>
    <visual>
      <origin rpy="0 0 0" xyz="0 0 0"/>
      <geometry name="lh_rfdistal_visual">
        <mesh filename="avatar_model/shadow_hand/meshes_drake/f_distal_bt_sp.obj" scale="0.001 0.001 0.001"/>
      </geometry>
    </visual>
    <collision>
      <origin rpy="0 0 0" xyz="0 0 0"/>
      <geometry name="lh_rfdistal_collision_geom">
        <mesh filename="avatar_model/shadow_hand/meshes_drake/f_distal_bt_sp.obj" scale="0.001 0.001 0.001"/>
      </geometry>
    </collision>
  </link>
  <joint name="lh_RFJ1" type="revolute">
    <parent link="lh_rfmiddle"/>
    <child link="lh_rfdistal"/>
    <origin rpy="0 0 0" xyz="0 0 0.025"/>
    <axis xyz="1 0 0"/>
    <!-- standard distal joint -->
    <limit effort="2" lower="0" upper="1.5707963267948966" velocity="2.0"/>
    <dynamics damping="0.1"/>
  </joint>
  <gazebo reference="lh_RFJ1">
    <provideFeedback>1</provideFeedback>
    <implicitSpringDamper>1</implicitSpringDamper>
  </gazebo>
  <link name="lh_rftip">
    <inertial>
      <mass value="0.001"/>
      <inertia ixx="0.0" ixy="0.0" ixz="0.0" iyy="0.0" iyz="0.0" izz="0.0"/>
    </inertial>
  </link>
  <joint name="lh_RFtip" type="fixed">
    <parent link="lh_rfdistal"/>
    <child link="lh_rftip"/>
    <origin rpy="0 0 0" xyz="0 0 0.026"/>
  </joint>
  <gazebo reference="lh_rfdistal">
    <sensor name="lh_rfdistal_contact" type="contact">
      <always_on>1</always_on>
      <update_rate>1000.0</update_rate>
      <contact>
        <collision>lh_rfdistal_collision</collision>
        <topic>lh_rfdistal_collision</topic>
      </contact>
      <plugin filename="libgazebo_ros_bumper.so" name="lh_rfdistal_gazebo_ros_bumper_controller">
        <alwaysOn>true</alwaysOn>
        <frameName>lh_rfdistal</frameName>
        <updateRate>100.0</updateRate>
        <bumperTopicName>contacts/lh_rf/distal</bumperTopicName>
      </plugin>
    </sensor>
    <mu1 value="500.0"/>
    <mu2 value="500.0"/>
    <kp value="10000000.0"/>
    <kd value="1.0"/>
    <selfCollide>true</selfCollide>
  </gazebo>
  <link name="lh_lfmetacarpal">
    <inertial>
      <origin rpy="0 -0.9599 0" xyz="-0.03174867647058824 0 0.02235294117647059"/>
      <mass value="0.030"/>
      <inertia ixx="0.0000145" ixy="0.0" ixz="0.0" iyy="0.00001638" iyz="0.0" izz="0.000004272"/>
    </inertial>
    <visual>
      <origin rpy="0 -0.9599 0" xyz="0 0 0"/>
      <geometry name="lh_lfmetacarpal_visual">
        <mesh filename="avatar_model/shadow_hand/meshes_drake/lf_metacarpal_e3m5.obj" scale="0.001 0.001 0.001"/>
      </geometry>
      <material name="Grey"/>
    </visual>
    <collision>
      <origin rpy="0 -0.9599 0" xyz="-0.026986375 0 0.019"/>
      <geometry name="lh_lfmetacarpal_collision_geom">
        <box size="0.018 0.024 0.040"/>
      </geometry>
    </collision>
  </link>
  <joint name="lh_LFJ5" type="revolute">
    <parent link="lh_palm"/>
    <child link="lh_lfmetacarpal"/>
    <origin rpy="0 0.9599 0" xyz="0.033 0 0.02071"/>
    <axis xyz="1 0 0"/>
    <limit effort="2" lower="0" upper="0.7853981633974483" velocity="2.0"/>
    <dynamics damping="0.1"/>
  </joint>
  <gazebo reference="lh_LFJ5">
    <provideFeedback>1</provideFeedback>
    <implicitSpringDamper>1</implicitSpringDamper>
  </gazebo>
  <transmission name="lh_lfmetacarpal_transmission">
    <type>sr_mechanism_model/SimpleTransmission</type>
    <actuator name="lh_LFJ5">
      <mechanicalReduction>1</mechanicalReduction>
    </actuator>
    <joint name="lh_LFJ5">
      <hardwareInterface>EffortJointInterface</hardwareInterface>
      <hardwareInterface>PositionJointInterface</hardwareInterface>
    </joint>
  </transmission>
  <gazebo reference="lh_lfmetacarpal">
    <selfCollide>true</selfCollide>
  </gazebo>
  <link name="lh_lfknuckle">
    <inertial>
      <origin rpy="0 0 0" xyz="0 0 0"/>
      <mass value="0.008"/>
      <inertia ixx="0.00000026" ixy="0.0" ixz="0.0" iyy="0.00000026" iyz="0.0" izz="0.00000032"/>
    </inertial>
    <visual>
      <origin rpy="0 0 0" xyz="0 0 0.0005"/>
      <geometry name="lh_lfknuckle_visual">
        <mesh filename="avatar_model/shadow_hand/meshes_drake/f_knuckle_e3m5.obj" scale="0.001 0.001 0.001"/>
      </geometry>
      <material name="LightGrey"/>
    </visual>
    <collision>
      <origin rpy="0 1.5708 0" xyz="0 0 0"/>
      <geometry name="lh_lfknuckle_collision_geom">
        <cylinder length="0.014" radius="0.007"/>
      </geometry>
    </collision>
  </link>
  <joint name="lh_LFJ4" type="revolute">
    <parent link="lh_lfmetacarpal"/>
    <child link="lh_lfknuckle"/>
    <!--<origin xyz="0.033 0 0.095" rpy="0 0 0" />-->
    <origin rpy="0 -0.9599 0" xyz="-0.05397275 0 0.03779463"/>
    <axis xyz="0 -1 0"/>
    <limit effort="2" lower="-0.3490658503988659" upper="0.3490658503988659" velocity="2.0"/>
    <dynamics damping="0.1"/>
  </joint>
  <gazebo reference="lh_LFJ4">
    <provideFeedback>1</provideFeedback>
    <implicitSpringDamper>1</implicitSpringDamper>
  </gazebo>
  <transmission name="lh_lfknuckle_transmission">
    <type>sr_mechanism_model/SimpleTransmission</type>
    <actuator name="lh_LFJ4">
      <mechanicalReduction>1</mechanicalReduction>
    </actuator>
    <joint name="lh_LFJ4">
      <hardwareInterface>EffortJointInterface</hardwareInterface>
      <hardwareInterface>PositionJointInterface</hardwareInterface>
    </joint>
  </transmission>
  <gazebo reference="lh_lfknuckle">
    <!-- knuckle is not highly exposed, so bumper is not useful -->
    <material>Gazebo/Grey</material>
  </gazebo>
  <link name="lh_lfproximal">
    <inertial>
      <mass value="0.030"/>
      <origin xyz="0 0 0.0225"/>
      <inertia ixx="0.0000098" ixy="0.0" ixz="0.0" iyy="0.00001" iyz="0.0" izz="0.0000018"/>
    </inertial>
    <visual>
      <origin rpy="0 0 0" xyz="0 0 0"/>
      <geometry name="lh_lfproximal_visual">
        <mesh filename="avatar_model/shadow_hand/meshes_drake/f_proximal_e3m5.obj" scale="0.001 0.001 0.001"/>
      </geometry>
      <material name="Grey"/>
    </visual>
    <collision>
      <origin rpy="0 0 0" xyz="0 0 0.025"/>
      <geometry name="lh_lfproximal_collision_geom">
        <cylinder length="0.040" radius="0.007"/>
      </geometry>
    </collision>
  </link>
  <joint name="lh_LFJ3" type="revolute">
    <parent link="lh_lfknuckle"/>
    <child link="lh_lfproximal"/>
    <origin rpy="0 0 0" xyz="0 0 0"/>
    <axis xyz="1 0 0"/>
    <limit effort="2" lower="-0.2617993877991494" upper="1.5707963267948966" velocity="2.0"/>
    <dynamics damping="0.1"/>
  </joint>
  <gazebo reference="lh_LFJ3">
    <provideFeedback>1</provideFeedback>
    <implicitSpringDamper>1</implicitSpringDamper>
  </gazebo>
  <transmission name="lh_lfproximal_transmission">
    <type>sr_mechanism_model/SimpleTransmission</type>
    <actuator name="lh_LFJ3">
      <mechanicalReduction>1</mechanicalReduction>
    </actuator>
    <joint name="lh_LFJ3">
      <hardwareInterface>EffortJointInterface</hardwareInterface>
      <hardwareInterface>PositionJointInterface</hardwareInterface>
    </joint>
  </transmission>
  <gazebo reference="lh_lfproximal">
    <selfCollide>true</selfCollide>
  </gazebo>
  <link name="lh_lfmiddle">
    <inertial>
      <origin rpy="0 0 0" xyz="0 0 0.0125"/>
      <mass value="0.017"/>
      <inertia ixx="0.0000026" ixy="0.0" ixz="0.0" iyy="0.0000027" iyz="0.0" izz="0.00000087"/>
    </inertial>
    <visual>
      <origin rpy="0 0 0" xyz="0 0 0"/>
      <geometry name="lh_lfmiddle_visual">
        <mesh filename="avatar_model/shadow_hand/meshes_drake/f_middle_e3m5.obj" scale="0.001 0.001 0.001"/>
      </geometry>
      <material name="Grey"/>
    </visual>
    <collision>
      <origin rpy="0 0 0" xyz="0 0 0.0125"/>
      <geometry name="lh_lfmiddle_collision_geom">
        <cylinder length="0.025" radius="0.007"/>
      </geometry>
    </collision>
    <collision>
      <origin rpy="0 0 0" xyz="0 0 0.0"/>
      <geometry>
        <sphere radius="0.007"/>
      </geometry>
    </collision>
    <collision>
      <origin rpy="0 0 0" xyz="0 0 0.025"/>
      <geometry>
        <sphere radius="0.007"/>
      </geometry>
    </collision>
  </link>
  <joint name="lh_LFJ2" type="revolute">
    <parent link="lh_lfproximal"/>
    <child link="lh_lfmiddle"/>
    <origin rpy="0 0 0" xyz="0 0 0.045"/>
    <axis xyz="1 0 0"/>
    <limit effort="2" lower="0" upper="1.5707963267948966" velocity="2.0"/>
    <dynamics damping="0.1"/>
  </joint>
  <gazebo reference="lh_LFJ2">
    <provideFeedback>1</provideFeedback>
    <implicitSpringDamper>1</implicitSpringDamper>
  </gazebo>
  <transmission name="lh_lfmiddle_transmission">
    <type>sr_mechanism_model/J0Transmission</type>
    <actuator name="lh_LFJ0">
      <mechanicalReduction>1</mechanicalReduction>
    </actuator>
    <joint name="lh_LFJ1">
      <hardwareInterface>EffortJointInterface</hardwareInterface>
      <hardwareInterface>PositionJointInterface</hardwareInterface>
    </joint>
  </transmission>
  <gazebo reference="lh_lfmiddle">
    <selfCollide>true</selfCollide>
  </gazebo>
  <link name="lh_lfdistal">
    <inertial>
      <mass value="0.012"/>
      <origin xyz="0 0 0.012"/>
      <inertia ixx="0.00000094" ixy="0.0" ixz="0.0" iyy="0.0000011" iyz="0.0" izz="0.00000053"/>
    </inertial>
    <visual>
      <origin rpy="0 0 0" xyz="0 0 0"/>
      <geometry name="lh_lfdistal_visual">
        <mesh filename="avatar_model/shadow_hand/meshes_drake/f_distal_bt_sp.obj" scale="0.001 0.001 0.001"/>
      </geometry>
    </visual>
    <collision>
      <origin rpy="0 0 0" xyz="0 0 0"/>
      <geometry name="lh_lfdistal_collision_geom">
        <mesh filename="avatar_model/shadow_hand/meshes_drake/f_distal_bt_sp.obj" scale="0.001 0.001 0.001"/>
      </geometry>
    </collision>
  </link>
  <joint name="lh_LFJ1" type="revolute">
    <parent link="lh_lfmiddle"/>
    <child link="lh_lfdistal"/>
    <origin rpy="0 0 0" xyz="0 0 0.025"/>
    <axis xyz="1 0 0"/>
    <!-- standard distal joint -->
    <limit effort="2" lower="0" upper="1.5707963267948966" velocity="2.0"/>
    <dynamics damping="0.1"/>
  </joint>
  <gazebo reference="lh_LFJ1">
    <provideFeedback>1</provideFeedback>
    <implicitSpringDamper>1</implicitSpringDamper>
  </gazebo>
  <link name="lh_lftip">
    <inertial>
      <mass value="0.001"/>
      <inertia ixx="0.0" ixy="0.0" ixz="0.0" iyy="0.0" iyz="0.0" izz="0.0"/>
    </inertial>
  </link>
  <joint name="lh_LFtip" type="fixed">
    <parent link="lh_lfdistal"/>
    <child link="lh_lftip"/>
    <origin rpy="0 0 0" xyz="0 0 0.026"/>
  </joint>
  <gazebo reference="lh_lfdistal">
    <sensor name="lh_lfdistal_contact" type="contact">
      <always_on>1</always_on>
      <update_rate>1000.0</update_rate>
      <contact>
        <collision>lh_lfdistal_collision</collision>
        <topic>lh_lfdistal_collision</topic>
      </contact>
      <plugin filename="libgazebo_ros_bumper.so" name="lh_lfdistal_gazebo_ros_bumper_controller">
        <alwaysOn>true</alwaysOn>
        <frameName>lh_lfdistal</frameName>
        <updateRate>100.0</updateRate>
        <bumperTopicName>contacts/lh_lf/distal</bumperTopicName>
      </plugin>
    </sensor>
    <mu1 value="500.0"/>
    <mu2 value="500.0"/>
    <kp value="10000000.0"/>
    <kd value="1.0"/>
    <selfCollide>true</selfCollide>
  </gazebo>
  <link name="lh_thbase">
    <inertial>
      <mass value="0.010"/>
      <origin rpy="0 0 0" xyz="0 0 0"/>
      <inertia ixx="0.00000016" ixy="0.0" ixz="0.0" iyy="0.00000016" iyz="0.0" izz="0.00000016"/>
    </inertial>
    <visual>
      <origin rpy="0 0 0" xyz="0 0 0"/>
      <geometry name="lh_thbase_visual">
        <box size="0.001 0.001 0.001"/>
      </geometry>
      <material name="shadow_thbase_material">
        <color rgba="0.5 0.5 0.5 1.0"/>
      </material>
    </visual>
    <collision>
      <origin rpy="0 0 0" xyz="0 0 0"/>
      <geometry name="lh_thbase_collision_geom">
        <sphere radius="0.011"/>
      </geometry>
    </collision>
  </link>
  <joint name="lh_THJ5" type="revolute">
    <parent link="lh_palm"/>
    <child link="lh_thbase"/>
    <origin rpy="-0.7853981633974483 0 1.5707963267948966" xyz="-0.034 -0.00858 0.029"/>
    <axis xyz="0 0 1"/>
    <limit effort="5.0" lower="-1.0471975511965976" upper="1.0471975511965976" velocity="4.0"/>
    <dynamics damping="0.2"/>
  </joint>
  <gazebo reference="lh_THJ5">
    <provideFeedback>1</provideFeedback>
    <implicitSpringDamper>1</implicitSpringDamper>
  </gazebo>
  <transmission name="lh_thbase_transmission">
    <type>sr_mechanism_model/SimpleTransmission</type>
    <actuator name="lh_THJ5">
      <mechanicalReduction>1</mechanicalReduction>
    </actuator>
    <joint name="lh_THJ5">
      <hardwareInterface>EffortJointInterface</hardwareInterface>
      <hardwareInterface>PositionJointInterface</hardwareInterface>
    </joint>
  </transmission>
  <gazebo reference="lh_thbase">
    <!-- base is inside the proximal and not exposed, so bumper is not needed -->
    <selfCollide>false</selfCollide>
  </gazebo>
  <link name="lh_thproximal">
    <inertial>
      <mass value="0.040"/>
      <origin rpy="0 0 0" xyz="0 0 0.019"/>
      <inertia ixx="0.0000136" ixy="0.0" ixz="0.0" iyy="0.0000136" iyz="0.0" izz="0.00000313"/>
    </inertial>
    <visual>
      <origin rpy="0 0 1.5707963267948966" xyz="0 0 0"/>
      <geometry name="lh_thproximal_visual">
        <mesh filename="avatar_model/shadow_hand/meshes_drake/th_proximal_e3m5.obj" scale="0.001 0.001 0.001"/>
      </geometry>
      <material name="shadow_thproximal_material">
        <color rgba="0.2 0.2 0.2 1.0"/>
      </material>
    </visual>
    <collision>
      <origin rpy="0 0 0" xyz="0 0 0.020"/>
      <geometry name="lh_thproximal_collision_geom">
        <cylinder length="0.018" radius="0.012"/>
      </geometry>
    </collision>
  </link>
  <joint name="lh_THJ4" type="revolute">
    <parent link="lh_thbase"/>
    <child link="lh_thproximal"/>
    <origin rpy="0 0 0" xyz="0 0 0"/>
    <axis xyz="0 -1 0"/>
    <limit effort="3" lower="0.0" upper="1.2217304763960306" velocity="4.0"/>
    <dynamics damping="0.2"/>
  </joint>
  <gazebo reference="lh_THJ4">
    <provideFeedback>1</provideFeedback>
    <implicitSpringDamper>1</implicitSpringDamper>
  </gazebo>
  <transmission name="lh_thproximal_transmission">
    <type>sr_mechanism_model/SimpleTransmission</type>
    <actuator name="lh_THJ4">
      <mechanicalReduction>1</mechanicalReduction>
    </actuator>
    <joint name="lh_THJ4">
      <hardwareInterface>EffortJointInterface</hardwareInterface>
      <hardwareInterface>PositionJointInterface</hardwareInterface>
    </joint>
  </transmission>
  <gazebo reference="lh_thproximal">
    <selfCollide>false</selfCollide>
  </gazebo>
  <link name="lh_thhub">
    <inertial>
      <mass value="0.005"/>
      <origin rpy="0 0 0" xyz="0 0 0"/>
      <inertia ixx="0.000001" ixy="0.0" ixz="0.0" iyy="0.000001" iyz="0.0" izz="0.0000003"/>
    </inertial>
    <visual>
      <origin rpy="0 0 0" xyz="0 0 0"/>
      <geometry name="lh_thhub_visual">
        <box size="0.001 0.001 0.001"/>
      </geometry>
      <material name="shadow_thhub_material">
        <color rgba="0.7 0.7 0.7 1.0"/>
      </material>
    </visual>
    <collision>
      <origin rpy="0 0 0" xyz="0 0 0"/>
      <geometry name="lh_thhub_collision_geom">
        <sphere radius="0.010"/>
      </geometry>
    </collision>
  </link>
  <joint name="lh_THJ3" type="revolute">
    <parent link="lh_thproximal"/>
    <child link="lh_thhub"/>
    <origin rpy="0 0 0" xyz="0 0 0.038"/>
    <axis xyz="0 -1 0"/>
    <limit effort="2.0" lower="-0.20943951023931953" upper="0.20943951023931953" velocity="4.0"/>
    <dynamics damping="0.2"/>
  </joint>
  <gazebo reference="lh_THJ3">
    <provideFeedback>1</provideFeedback>
    <implicitSpringDamper>1</implicitSpringDamper>
  </gazebo>
  <transmission name="lh_thhub_transmission">
    <type>sr_mechanism_model/SimpleTransmission</type>
    <actuator name="lh_THJ3">
      <mechanicalReduction>1</mechanicalReduction>
    </actuator>
    <joint name="lh_THJ3">
      <hardwareInterface>EffortJointInterface</hardwareInterface>
      <hardwareInterface>PositionJointInterface</hardwareInterface>
    </joint>
  </transmission>
  <gazebo reference="lh_thhub">
    <!-- hub is inside the proximal and not exposed, so bumper is not needed -->
    <selfCollide>false</selfCollide>
  </gazebo>
  <link name="lh_thmiddle">
    <inertial>
      <mass value="0.020"/>
      <origin rpy="0 0 0" xyz="0 0 0.016"/>
      <inertia ixx="0.0000051" ixy="0.0" ixz="0.0" iyy="0.0000051" iyz="0.0" izz="0.00000121"/>
    </inertial>
    <visual>
      <origin rpy="0 0 1.5707963267948966" xyz="0 0 0"/>
      <geometry name="lh_thmiddle_visual">
        <mesh filename="avatar_model/shadow_hand/meshes_drake/th_middle_e3m5.obj" scale="0.001 0.001 0.001"/>
      </geometry>
      <material name="shadow_thmiddle_material">
        <color rgba="0.2 0.2 0.2 1.0"/>
      </material>
    </visual>
    <collision>
      <origin rpy="0 0 0" xyz="0 0 0.012"/>
      <geometry name="lh_thmiddle_collision_geom">
        <cylinder length="0.018" radius="0.011"/>
      </geometry>
    </collision>
    <collision>
      <origin rpy="0 0 0" xyz="0 0 0.019"/>
      <geometry>
        <sphere radius="0.011"/>
      </geometry>
    </collision>
    <collision>
      <origin rpy="0 1.5708 0" xyz="0 0 0.032"/>
      <geometry>
        <cylinder length="0.014" radius="0.010"/>
      </geometry>
    </collision>
  </link>
  <joint name="lh_THJ2" type="revolute">
    <parent link="lh_thhub"/>
    <child link="lh_thmiddle"/>
    <origin rpy="0 0 0" xyz="0 0 0"/>
    <axis xyz="1 0 0"/>
    <limit effort="2.0" lower="-0.6981317007977318" upper="0.6981317007977318" velocity="2.0"/>
    <dynamics damping="0.1"/>
  </joint>
  <gazebo reference="lh_THJ2">
    <provideFeedback>1</provideFeedback>
    <implicitSpringDamper>1</implicitSpringDamper>
  </gazebo>
  <transmission name="lh_thmiddle_transmission">
    <type>sr_mechanism_model/SimpleTransmission</type>
    <actuator name="lh_THJ2">
      <mechanicalReduction>1</mechanicalReduction>
    </actuator>
    <joint name="lh_THJ2">
      <hardwareInterface>EffortJointInterface</hardwareInterface>
      <hardwareInterface>PositionJointInterface</hardwareInterface>
    </joint>
  </transmission>
  <gazebo reference="lh_thmiddle">
  </gazebo>
  <!-- common -->
  <link name="lh_thdistal">
    <inertial>
      <mass value="0.016"/>
      <origin rpy="0 0 0" xyz="0 0 0.01375"/>
      <inertia ixx="0.0000021" ixy="0.0" ixz="0.0" iyy="0.0000022" iyz="0.0" izz="0.000001"/>
    </inertial>
    <visual>
      <origin rpy="0 0 0" xyz="0 0 0"/>
      <geometry name="lh_thdistal_visual">
        <mesh filename="avatar_model/shadow_hand/meshes_drake/th_distal_bt_sp.obj" scale="0.001 0.001 0.001"/>
      </geometry>
      <material name="shadow_thmiddle_material">
        <color rgba="0.2 0.2 0.2 1.0"/>
      </material>
    </visual>
    <collision>
      <origin rpy="0 0 0" xyz="0 0 0"/>
      <geometry name="lh_thmiddle_collision_geom">
        <mesh filename="avatar_model/shadow_hand/meshes_drake/th_distal_bt_sp.obj" scale="0.001 0.001 0.001"/>
      </geometry>
    </collision>
  </link>
  <joint name="lh_THJ1" type="revolute">
    <parent link="lh_thmiddle"/>
    <child link="lh_thdistal"/>
    <origin rpy="0 0 0" xyz="0 0 0.032"/>
    <axis xyz="1 0 0"/>
    <limit effort="1.0" lower="-0.2617993877991494" upper="1.5707963267948966" velocity="4.0"/>
    <dynamics damping="0.2"/>
  </joint>
  <gazebo reference="lh_THJ1">
    <provideFeedback>1</provideFeedback>
    <implicitSpringDamper>1</implicitSpringDamper>
  </gazebo>
  <link name="lh_thtip">
    <inertial>
      <mass value="0.001"/>
      <inertia ixx="0.0" ixy="0.0" ixz="0.0" iyy="0.0" iyz="0.0" izz="0.0"/>
    </inertial>
  </link>
  <joint name="lh_thtip" type="fixed">
    <parent link="lh_thdistal"/>
    <child link="lh_thtip"/>
    <origin rpy="0 0 0" xyz="0 0 0.0275"/>
  </joint>
  <gazebo reference="lh_thdistal">
    <sensor name="lh_thdistal_contact" type="contact">
      <always_on>1</always_on>
      <update_rate>1000.0</update_rate>
      <contact>
        <collision>lh_thdistal_collision</collision>
        <topic>lh_thdistal_collision</topic>
      </contact>
      <plugin filename="libgazebo_ros_bumper.so" name="lh_thdistal_gazebo_ros_bumper_controller">
        <alwaysOn>true</alwaysOn>
        <frameName>lh_thdistal</frameName>
        <updateRate>100.0</updateRate>
        <bumperTopicName>contacts/lh_th/distal</bumperTopicName>
      </plugin>
    </sensor>
    <mu1 value="500.0"/>
    <mu2 value="500.0"/>
    <kp value="10000000.0"/>
    <kd value="1.0"/>
    <selfCollide>true</selfCollide>
  </gazebo>
  <transmission name="lh_thdistal_transmission">
    <type>sr_mechanism_model/SimpleTransmission</type>
    <actuator name="lh_THJ1">
      <mechanicalReduction>1</mechanicalReduction>
    </actuator>
    <joint name="lh_THJ1">
      <hardwareInterface>EffortJointInterface</hardwareInterface>
      <hardwareInterface>PositionJointInterface</hardwareInterface>
    </joint>
  </transmission>
  <!-- Conversion were obtained from http://www.e-paint.co.uk/Lab_values.asp
       unless otherwise stated. -->
  <!-- link list -->
  <link name="gofa2_base">
    <!-- See note 1 in package.xml about the inertial and mass values -->
    <inertial>
      <mass value="3.50083457958494"/>
      <origin xyz="-0.0012013793465437 -0.000175191786981708 0.0862146007385352"/>
      <inertia ixx="0.0153015257917955" ixy="-6.40155032892694E-05" ixz="-0.000276708687772683" iyy="0.0159333503953857" iyz="-3.98029144780725E-05" izz="0.0112162302268266"/>
    </inertial>
    <collision name="collision">
      <geometry>
        <mesh filename="avatar_model/abb_gofa/meshes/collision_obj/base.obj"/>
      </geometry>
    </collision>
    <visual name="visual">
      <geometry>
        <mesh filename="avatar_model/abb_gofa/meshes/visual_obj/base.obj"/>
      </geometry>
      <material name="">
        <color rgba="1 1 0 1"/>
      </material>
    </visual>
  </link>
  <link name="gofa2_link_1">
    <!-- See note 1 in package.xml about the inertial and mass values -->
    <inertial>
      <mass value="2.76743491139404"/>
      <origin xyz="2.08682453325091E-06 0.0103608399967513 0.0705307203199506"/>
      <inertia ixx="0.0115158625894577" ixy="6.37197693598838E-08" ixz="5.98954393680154E-09" iyy="0.006494848329231" iyz="-0.000196668400316843" izz="0.0109446835358581"/>
    </inertial>
    <collision name="collision">
      <geometry>
        <mesh filename="avatar_model/abb_gofa/meshes/collision_obj/link_1.obj"/>
      </geometry>
    </collision>
    <visual name="visual">
      <geometry>
        <mesh filename="avatar_model/abb_gofa/meshes/visual_obj/link_1.obj"/>
      </geometry>
      <material name="">
        <color rgba="1 1 0 1"/>
      </material>
    </visual>
  </link>
  <link name="gofa2_link_2">
    <!-- See note 1 in package.xml about the inertial and mass values -->
    <inertial>
      <mass value="4.2890416"/>
      <origin xyz="1.34018352211628E-06 -0.0500118376116071 0.222001399322246"/>
      <inertia ixx="0.130524729873898" ixy="1.31811857134115E-07" ixz="1.99022457670482E-06" iyy="0.133278449324229" iyz="-4.48622200366709E-07" izz="0.00669457974697178"/>
    </inertial>
    <collision name="collision">
      <geometry>
        <mesh filename="avatar_model/abb_gofa/meshes/collision_obj/link_2.obj"/>
      </geometry>
    </collision>
    <visual name="visual">
      <geometry>
        <mesh filename="avatar_model/abb_gofa/meshes/visual_obj/link_2.obj"/>
      </geometry>
      <material name="">
        <color rgba="1 1 0 1"/>
      </material>
    </visual>
  </link>
  <link name="gofa2_link_3">
    <!-- See note 1 in package.xml about the inertial and mass values -->
    <inertial>
      <mass value="3.38333107992875"/>
      <origin xyz="0.0128129281453599 0.0944171780907046 0.0247427540642403"/>
      <inertia ixx="0.0175626138728642" ixy="0.000364866179108744" ixz="-0.00318670290285352" iyy="0.0140230068919562" iyz="0.000704668055158407" izz="0.013275205067567"/>
    </inertial>
    <collision name="collision">
      <geometry>
        <mesh filename="avatar_model/abb_gofa/meshes/collision_obj/link_3.obj"/>
      </geometry>
    </collision>
    <visual name="visual">
      <geometry>
        <mesh filename="avatar_model/abb_gofa/meshes/visual_obj/link_3.obj"/>
      </geometry>
      <material name="">
        <color rgba="1 1 0 1"/>
      </material>
    </visual>
  </link>
  <link name="gofa2_link_4">
    <!-- See note 1 in package.xml about the inertial and mass values -->
    <inertial>
      <mass value="2.77857535641324"/>
      <origin xyz="0.160558561602322 0.041976811408979 -2.36623354021859E-07"/>
      <inertia ixx="0.00881683095901354" ixy="-0.010746260580237" ixz="1.2899930119841E-07" iyy="0.0340754175571832" iyz="3.96362791626429E-08" izz="0.0389358932156922"/>
    </inertial>
    <collision name="collision">
      <geometry>
        <mesh filename="avatar_model/abb_gofa/meshes/collision_obj/link_4.obj"/>
      </geometry>
    </collision>
    <visual name="visual">
      <geometry>
        <mesh filename="avatar_model/abb_gofa/meshes/visual_obj/link_4.obj"/>
      </geometry>
      <material name="">
        <color rgba="1 1 0 1"/>
      </material>
    </visual>
  </link>
  <link name="gofa2_link_5">
    <!-- See note 1 in package.xml about the inertial and mass values -->
    <inertial>
      <mass value="3.01105814739001"/>
      <origin xyz="-0.0147152361879962 -0.0785646469392633 0.0427558021601431"/>
      <inertia ixx="0.0114597336686444" ixy="0.000180094704361231" ixz="0.00165207280226761" iyy="0.013561904467501" iyz="-0.000525272443978826" izz="0.0108480119549914"/>
    </inertial>
    <collision name="collision">
      <geometry>
        <mesh filename="avatar_model/abb_gofa/meshes/collision_obj/link_5.obj"/>
      </geometry>
    </collision>
    <visual name="visual">
      <geometry>
        <mesh filename="avatar_model/abb_gofa/meshes/visual_obj/link_5.obj"/>
      </geometry>
      <material name="">
        <color rgba="1 1 0 1"/>
      </material>
    </visual>
  </link>
  <link name="gofa2_link_6">
    <!-- See note 1 in package.xml about the inertial and mass values -->
    <inertial>
      <mass value="0.146500988015653"/>
      <origin rpy="0 0 0" xyz="0.0137506852604966 0.000239804131398652 -0.000341962798940165"/>
      <inertia ixx="0.000128977630055306" ixy="-8.7622752508613E-08" ixz="1.18851551870012E-07" iyy="7.61118177829087E-05" iyz="-6.49821554399679E-07" izz="7.65022909768016E-05"/>
    </inertial>
    <!-- Meshlab calculated values (below) make gazebo crash when rotating this joint. -->
    <!-- <inertial>
        <mass value="0.00686711"/>
        <origin xyz="-0.00250976 -1.89e-06 0.00010218"/>
        <inertia ixx="1.3517e-06" ixy="-1.21316e-11" ixz="9.18065e-12" iyy="6.89813e-07" iyz="-1.21534e-10" izz="6.90097e-07"/>
      </inertial> -->
    <collision name="collision">
      <geometry>
        <mesh filename="avatar_model/abb_gofa/meshes/collision_obj/link_6.obj"/>
      </geometry>
    </collision>
    <visual name="visual">
      <geometry>
        <mesh filename="avatar_model/abb_gofa/meshes/visual_obj/link_6.obj"/>
      </geometry>
      <material name="">
        <color rgba="1 1 0 1"/>
      </material>
    </visual>
  </link>
  <!-- end of link list -->
  <!-- joint list -->
  <joint name="gofa2_joint_1" type="revolute">
    <origin rpy="0 0 0" xyz="0 0 0.1875"/>
    <axis xyz="0 0 1"/>
    <parent link="gofa2_base"/>
    <child link="gofa2_link_1"/>
    <!-- See note 2 in package.xml about effort limits and dynamics values -->
    <limit effort="1000" lower="-2.967" upper="2.967" velocity="5.027"/>
    <dynamics damping="50.0" friction="1.0"/>
  </joint>
  <joint name="gofa2_joint_2" type="revolute">
    <origin rpy="0 0 0" xyz="0 -0.085 0.0775"/>
    <axis xyz="0 1 0"/>
    <parent link="gofa2_link_1"/>
    <child link="gofa2_link_2"/>
    <!-- See note 2 in package.xml about effort limits and dynamics values -->
    <limit effort="1000" lower="-1.745" upper="2.269" velocity="4.189"/>
    <dynamics damping="50.0" friction="1.0"/>
  </joint>
  <joint name="gofa2_joint_3" type="revolute">
    <origin rpy="0 0 0" xyz="0 -0.00100000000000007 0.444"/>
    <axis xyz="0 1 0"/>
    <parent link="gofa2_link_2"/>
    <child link="gofa2_link_3"/>
    <!-- See note 2 in package.xml about effort limits and dynamics values -->
    <limit effort="1000" lower="-3.491" upper="1.222" velocity="5.236"/>
    <dynamics damping="10.0" friction="1.0"/>
  </joint>
  <joint name="gofa2_joint_4" type="revolute">
    <origin rpy="0 0 0" xyz="0.096 0.0860000000000001 0.11"/>
    <axis xyz="1 0 0"/>
    <parent link="gofa2_link_3"/>
    <child link="gofa2_link_4"/>
    <!-- See note 2 in package.xml about effort limits and dynamics values -->
    <limit effort="1000" lower="-4.712" upper="4.712" velocity="6.981"/>
    <dynamics damping="5.0" friction="1.0"/>
  </joint>
  <joint name="gofa2_joint_5" type="revolute">
    <origin rpy="0 0 0" xyz="0.374 0.0744999999999998 0"/>
    <axis xyz="0 1 0"/>
    <parent link="gofa2_link_4"/>
    <child link="gofa2_link_5"/>
    <!-- See note 2 in package.xml about effort limits and dynamics values -->
    <limit effort="1000" lower="-2.269" upper="2.269" velocity="7.069"/>
    <dynamics damping="2.0" friction="1.0"/>
  </joint>
  <joint name="gofa2_joint_6" type="revolute">
    <origin rpy="0 0 0" xyz="0.0679999999999995 -0.0744999999999998 0.0800000000000003"/>
    <axis xyz="1 0 0"/>
    <parent link="gofa2_link_5"/>
    <child link="gofa2_link_6"/>
    <!-- See note 2 in package.xml about effort limits and dynamics values -->
    <limit effort="1000" lower="-6.283" upper="6.283" velocity="10.472"/>
    <dynamics damping="1.0" friction="1.0"/>
  </joint>
  <!-- end of joint list -->
  <!-- ROS-Industrial 'base' frame- base_link to ABB World Coordinates transform -->
  <link name="gofa2_base_link"/>
  <joint name="gofa2_base_link-base" type="fixed">
    <origin rpy="0 0 0" xyz="0 0 0"/>
    <parent link="gofa2_base_link"/>
    <child link="gofa2_base"/>
  </joint>
  <!-- ROS-Industrial 'tool0' frame- all-zeros tool frame -->
  <link name="gofa2_tool0"/>
  <joint name="gofa2_link_6-tool0" type="fixed">
    <origin rpy="0 1.5708 0" xyz="0.0326 0 0"/>
    <parent link="gofa2_link_6"/>
    <child link="gofa2_tool0"/>
  </joint>
  <joint name="rh_world_joint" type="fixed">
    <parent link="gofa2_tool0"/>
    <child link="rh_forearm"/>
    <origin rpy="0.0 0.0 3.14" xyz="0.0 0.0 0.007"/>
  </joint>
  <link name="rh_forearm">
    <inertial>
      <origin rpy="0 0 0" xyz="0 0 0.09"/>
      <mass value="3.0"/>
      <inertia ixx="0.0138" ixy="0.0" ixz="0.0" iyy="0.0138" iyz="0.0" izz="0.00744"/>
    </inertial>
    <visual>
      <origin rpy="0 0 0" xyz="0 0 0.0"/>
      <geometry name="rh_forearm_visual">
        <mesh filename="avatar_model/shadow_hand/meshes_drake/forearm_e3m5.obj" scale="0.001 0.001 0.001"/>
      </geometry>
      <material name="light_grey">
        <color rgba="0.90000 0.90000 0.90000 1.0"/>
      </material>
    </visual>
    <collision>
      <origin rpy="0 0 0" xyz="0 0 0.0"/>
      <geometry name="rh_forearm_collision">
        <mesh filename="avatar_model/shadow_hand/meshes_drake/forearm_collision_e3m5.obj" scale="0.001 0.001 0.001"/>
      </geometry>
    </collision>
    <!-- wrist mount -->
    <collision>
      <origin rpy="0 0.78 0" xyz="0 -0.01 0.181"/>
      <geometry>
        <box size="0.07 0.07 0.07"/>
      </geometry>
    </collision>
    <!-- TODO: Make a decision on whether to add the connector or not -->
    <!--visual>
        <origin rpy="0 -1.57 -1.57" xyz="0.0 0.067 0.0045"/>
        <geometry name="${prefix}cable_extr_visualisation">
          <mesh filename="avatar_model/shadow_hand/meshes/collision_obj/cable_connector/cable_connector_base_${hand_version}.dae" scale="0.001 0.001 0.001" />
        </geometry>
      </visual-->
  </link>
  <gazebo reference="rh_forearm">
    <selfCollide>false</selfCollide>
  </gazebo>
  <link name="rh_wrist">
    <inertial>
      <origin rpy="0 0 0" xyz="0 0 0.029"/>
      <mass value="0.1"/>
      <inertia ixx="0.000035" ixy="0.0" ixz="0.0" iyy="0.000064" iyz="0.0" izz="0.0000438"/>
    </inertial>
    <visual>
      <origin rpy="0 0 0" xyz="0 0 0"/>
      <geometry name="rh_wrist_visual">
        <mesh filename="avatar_model/shadow_hand/meshes_drake/wrist_e3m5.obj" scale="0.001 0.001 0.001"/>
      </geometry>
      <material name="LightGrey"/>
    </visual>
    <collision>
      <origin rpy="1.5708 1.5708 0" xyz="0 0 0"/>
      <geometry name="rh_wrist_collision_geom">
        <cylinder length="0.030" radius="0.0135"/>
      </geometry>
    </collision>
    <collision>
      <origin rpy="0 1.5708 0" xyz="-0.026 0 0.034"/>
      <geometry>
        <cylinder length="0.010" radius="0.011"/>
      </geometry>
    </collision>
    <collision>
      <origin rpy="0 1.5708 0" xyz="0.031 0 0.034"/>
      <geometry>
        <cylinder length="0.010" radius="0.011"/>
      </geometry>
    </collision>
    <collision>
      <origin rpy="0 0.7854 0" xyz="-0.021 0 0.011"/>
      <geometry>
        <box size="0.027 0.018 0.010"/>
      </geometry>
    </collision>
    <collision>
      <origin rpy="0 -0.7854 0" xyz="0.026 0 0.010"/>
      <geometry>
        <box size="0.027 0.018 0.010"/>
      </geometry>
    </collision>
  </link>
  <gazebo reference="rh_wrist">
    <material>Gazebo/White</material>
    <selfCollide>false</selfCollide>
  </gazebo>
  <joint name="rh_WRJ2" type="revolute">
    <parent link="rh_forearm"/>
    <child link="rh_wrist"/>
    <origin rpy="0 0 0" xyz="0 -0.010 0.21301"/>
    <axis xyz="0 1 0"/>
    <limit effort="10" lower="-0.5235987755982988" upper="0.17453292519943295" velocity="2.0"/>
    <dynamics damping="0.1"/>
  </joint>
  <gazebo reference="rh_WRJ2">
    <provideFeedback>1</provideFeedback>
    <implicitSpringDamper>1</implicitSpringDamper>
  </gazebo>
  <transmission name="rh_wrist_transmission">
    <type>sr_mechanism_model/SimpleTransmission</type>
    <actuator name="rh_WRJ2">
      <mechanicalReduction>1</mechanicalReduction>
    </actuator>
    <joint name="rh_WRJ2">
      <hardwareInterface>EffortJointInterface</hardwareInterface>
      <hardwareInterface>PositionJointInterface</hardwareInterface>
    </joint>
  </transmission>
  <link name="rh_palm">
    <inertial>
      <origin rpy="0 0 0" xyz="0 0 0.035"/>
      <mass value="0.3"/>
      <inertia ixx="0.0003581" ixy="0.0" ixz="0.0" iyy="0.0005287" iyz="0.0" izz="0.000191"/>
    </inertial>
    <visual>
      <origin rpy="0 0 0" xyz="0 0 0"/>
      <geometry name="rh_palm_visual">
        <mesh filename="avatar_model/shadow_hand/meshes_drake/palm_e3m5.obj" scale="0.001 0.001 0.001"/>
      </geometry>
      <material name="Grey"/>
    </visual>
    <collision>
      <origin rpy="0 0 0" xyz="0.011 0.0085 0.038"/>
      <geometry name="rh_palm_collision_geom">
        <box size="0.062 0.007 0.098"/>
      </geometry>
    </collision>
    <collision>
      <origin rpy="0 0 0" xyz="-0.002 -0.0035 0.038"/>
      <geometry>
        <box size="0.036 0.017 0.098"/>
      </geometry>
    </collision>
    <!-- palm complement below first finger -->
    <collision>
      <origin rpy="0 0 0" xyz="0.029 -0.0035 0.082"/>
      <geometry>
        <box size="0.026 0.017 0.010"/>
      </geometry>
    </collision>
    <collision>
      <origin rpy="0.2 0 0.25" xyz="0.0265 -0.001 0.070"/>
      <geometry>
        <box size="0.026 0.014 0.018"/>
      </geometry>
    </collision>
    <!-- thumb pulp side -->
    <collision>
      <origin rpy="0 0 0" xyz="0.0315 -0.0085 0.001"/>
      <geometry>
        <box size="0.021 0.027 0.024"/>
      </geometry>
    </collision>
    <!-- thumb pulp central -->
    <collision>
      <origin rpy="0 0 -0.48" xyz="0.0125 -0.015 0.009"/>
      <geometry>
        <box size="0.022 0.005 0.040"/>
      </geometry>
    </collision>
    <!-- above middle finger-->
    <collision>
      <origin rpy="0 0 0" xyz="0.011 0 0.089"/>
      <geometry>
        <box size="0.018 0.024 0.004"/>
      </geometry>
    </collision>
    <!-- metacarpal side-->
    <collision>
      <origin rpy="0 0 0" xyz="-0.03 0 0.009"/>
      <geometry>
        <box size="0.020 0.024 0.040"/>
      </geometry>
    </collision>
  </link>
  <joint name="rh_ee_fixed_joint" type="fixed">
    <parent link="rh_palm"/>
    <child link="rh_manipulator"/>
    <origin rpy="0.0 0.0 0.0" xyz="0.0 0.0 0.05"/>
  </joint>
  <link name="rh_manipulator"/>
  <joint name="rh_WRJ1" type="revolute">
    <parent link="rh_wrist"/>
    <child link="rh_palm"/>
    <origin rpy="0 0 0" xyz="0 0 0.034"/>
    <axis xyz="1 0 0"/>
    <limit effort="30" lower="-0.6981317007977318" upper="0.4886921905584123" velocity="2.0"/>
    <dynamics damping="0.1"/>
  </joint>
  <gazebo reference="rh_WRJ1">
    <provideFeedback>1</provideFeedback>
    <implicitSpringDamper>1</implicitSpringDamper>
  </gazebo>
  <link name="rh_imu"/>
  <joint name="rh_palm_to_imu" type="fixed">
    <parent link="rh_palm"/>
    <child link="rh_imu"/>
    <origin rpy="-1.5707963 3.141592 0.0" xyz="0.01785 0.00765 0.049125"/>
  </joint>
  <transmission name="rh_palm_transmission">
    <type>sr_mechanism_model/SimpleTransmission</type>
    <actuator name="rh_WRJ1">
      <mechanicalReduction>1</mechanicalReduction>
    </actuator>
    <joint name="rh_WRJ1">
      <hardwareInterface>EffortJointInterface</hardwareInterface>
      <hardwareInterface>PositionJointInterface</hardwareInterface>
    </joint>
  </transmission>
  <gazebo reference="rh_palm">
  </gazebo>
  <link name="rh_ffknuckle">
    <inertial>
      <origin rpy="0 0 0" xyz="0 0 0"/>
      <mass value="0.008"/>
      <inertia ixx="0.00000026" ixy="0.0" ixz="0.0" iyy="0.00000026" iyz="0.0" izz="0.00000032"/>
    </inertial>
    <visual>
      <origin rpy="0 0 0" xyz="0 0 0.0005"/>
      <geometry name="rh_ffknuckle_visual">
        <mesh filename="avatar_model/shadow_hand/meshes_drake/f_knuckle_e3m5.obj" scale="0.001 0.001 0.001"/>
      </geometry>
      <material name="LightGrey"/>
    </visual>
    <collision>
      <origin rpy="0 1.5708 0" xyz="0 0 0"/>
      <geometry name="rh_ffknuckle_collision_geom">
        <cylinder length="0.014" radius="0.007"/>
      </geometry>
    </collision>
  </link>
  <joint name="rh_FFJ4" type="revolute">
    <parent link="rh_palm"/>
    <child link="rh_ffknuckle"/>
    <!--<origin xyz="0.033 0 0.095" rpy="0 0 0" />-->
    <origin rpy="0 0 0" xyz="0.033 0 0.095"/>
    <axis xyz="0 -1 0"/>
    <limit effort="2" lower="-0.3490658503988659" upper="0.3490658503988659" velocity="2.0"/>
    <dynamics damping="0.1"/>
  </joint>
  <gazebo reference="rh_FFJ4">
    <provideFeedback>1</provideFeedback>
    <implicitSpringDamper>1</implicitSpringDamper>
  </gazebo>
  <transmission name="rh_ffknuckle_transmission">
    <type>sr_mechanism_model/SimpleTransmission</type>
    <actuator name="rh_FFJ4">
      <mechanicalReduction>1</mechanicalReduction>
    </actuator>
    <joint name="rh_FFJ4">
      <hardwareInterface>EffortJointInterface</hardwareInterface>
      <hardwareInterface>PositionJointInterface</hardwareInterface>
    </joint>
  </transmission>
  <gazebo reference="rh_ffknuckle">
    <!-- knuckle is not highly exposed, so bumper is not useful -->
    <material>Gazebo/Grey</material>
  </gazebo>
  <link name="rh_ffproximal">
    <inertial>
      <mass value="0.030"/>
      <origin xyz="0 0 0.0225"/>
      <inertia ixx="0.0000098" ixy="0.0" ixz="0.0" iyy="0.00001" iyz="0.0" izz="0.0000018"/>
    </inertial>
    <visual>
      <origin rpy="0 0 0" xyz="0 0 0"/>
      <geometry name="rh_ffproximal_visual">
        <mesh filename="avatar_model/shadow_hand/meshes_drake/f_proximal_e3m5.obj" scale="0.001 0.001 0.001"/>
      </geometry>
      <material name="Grey"/>
    </visual>
    <collision>
      <origin rpy="0 0 0" xyz="0 0 0.025"/>
      <geometry name="rh_ffproximal_collision_geom">
        <cylinder length="0.040" radius="0.007"/>
      </geometry>
    </collision>
  </link>
  <joint name="rh_FFJ3" type="revolute">
    <parent link="rh_ffknuckle"/>
    <child link="rh_ffproximal"/>
    <origin rpy="0 0 0" xyz="0 0 0"/>
    <axis xyz="1 0 0"/>
    <limit effort="2" lower="-0.2617993877991494" upper="1.5707963267948966" velocity="2.0"/>
    <dynamics damping="0.1"/>
  </joint>
  <gazebo reference="rh_FFJ3">
    <provideFeedback>1</provideFeedback>
    <implicitSpringDamper>1</implicitSpringDamper>
  </gazebo>
  <transmission name="rh_ffproximal_transmission">
    <type>sr_mechanism_model/SimpleTransmission</type>
    <actuator name="rh_FFJ3">
      <mechanicalReduction>1</mechanicalReduction>
    </actuator>
    <joint name="rh_FFJ3">
      <hardwareInterface>EffortJointInterface</hardwareInterface>
      <hardwareInterface>PositionJointInterface</hardwareInterface>
    </joint>
  </transmission>
  <gazebo reference="rh_ffproximal">
    <selfCollide>true</selfCollide>
  </gazebo>
  <link name="rh_ffmiddle">
    <inertial>
      <origin rpy="0 0 0" xyz="0 0 0.0125"/>
      <mass value="0.017"/>
      <inertia ixx="0.0000026" ixy="0.0" ixz="0.0" iyy="0.0000027" iyz="0.0" izz="0.00000087"/>
    </inertial>
    <visual>
      <origin rpy="0 0 0" xyz="0 0 0"/>
      <geometry name="rh_ffmiddle_visual">
        <mesh filename="avatar_model/shadow_hand/meshes_drake/f_middle_e3m5.obj" scale="0.001 0.001 0.001"/>
      </geometry>
      <material name="Grey"/>
    </visual>
    <collision>
      <origin rpy="0 0 0" xyz="0 0 0.0125"/>
      <geometry name="rh_ffmiddle_collision_geom">
        <cylinder length="0.025" radius="0.007"/>
      </geometry>
    </collision>
    <collision>
      <origin rpy="0 0 0" xyz="0 0 0.0"/>
      <geometry>
        <sphere radius="0.007"/>
      </geometry>
    </collision>
    <collision>
      <origin rpy="0 0 0" xyz="0 0 0.025"/>
      <geometry>
        <sphere radius="0.007"/>
      </geometry>
    </collision>
  </link>
  <joint name="rh_FFJ2" type="revolute">
    <parent link="rh_ffproximal"/>
    <child link="rh_ffmiddle"/>
    <origin rpy="0 0 0" xyz="0 0 0.045"/>
    <axis xyz="1 0 0"/>
    <limit effort="2" lower="0" upper="1.5707963267948966" velocity="2.0"/>
    <dynamics damping="0.1"/>
  </joint>
  <gazebo reference="rh_FFJ2">
    <provideFeedback>1</provideFeedback>
    <implicitSpringDamper>1</implicitSpringDamper>
  </gazebo>
  <transmission name="rh_ffmiddle_transmission">
    <type>sr_mechanism_model/J0Transmission</type>
    <actuator name="rh_FFJ0">
      <mechanicalReduction>1</mechanicalReduction>
    </actuator>
    <joint name="rh_FFJ1">
      <hardwareInterface>EffortJointInterface</hardwareInterface>
      <hardwareInterface>PositionJointInterface</hardwareInterface>
    </joint>
  </transmission>
  <gazebo reference="rh_ffmiddle">
    <selfCollide>true</selfCollide>
  </gazebo>
  <link name="rh_ffdistal">
    <inertial>
      <mass value="0.012"/>
      <origin xyz="0 0 0.012"/>
      <inertia ixx="0.00000094" ixy="0.0" ixz="0.0" iyy="0.0000011" iyz="0.0" izz="0.00000053"/>
    </inertial>
    <visual>
      <origin rpy="0 0 0" xyz="0 0 0"/>
      <geometry name="rh_ffdistal_visual">
        <mesh filename="avatar_model/shadow_hand/meshes_drake/f_distal_bt_sp.obj" scale="0.001 0.001 0.001"/>
      </geometry>
    </visual>
    <collision>
      <origin rpy="0 0 0" xyz="0 0 0"/>
      <geometry name="rh_ffdistal_collision_geom">
        <mesh filename="avatar_model/shadow_hand/meshes_drake/f_distal_bt_sp.obj" scale="0.001 0.001 0.001"/>
      </geometry>
    </collision>
  </link>
  <joint name="rh_FFJ1" type="revolute">
    <parent link="rh_ffmiddle"/>
    <child link="rh_ffdistal"/>
    <origin rpy="0 0 0" xyz="0 0 0.025"/>
    <axis xyz="1 0 0"/>
    <!-- standard distal joint -->
    <limit effort="2" lower="0" upper="1.5707963267948966" velocity="2.0"/>
    <dynamics damping="0.1"/>
  </joint>
  <gazebo reference="rh_FFJ1">
    <provideFeedback>1</provideFeedback>
    <implicitSpringDamper>1</implicitSpringDamper>
  </gazebo>
  <link name="rh_fftip">
    <inertial>
      <mass value="0.001"/>
      <inertia ixx="0.0" ixy="0.0" ixz="0.0" iyy="0.0" iyz="0.0" izz="0.0"/>
    </inertial>
  </link>
  <joint name="rh_FFtip" type="fixed">
    <parent link="rh_ffdistal"/>
    <child link="rh_fftip"/>
    <origin rpy="0 0 0" xyz="0 0 0.026"/>
  </joint>
  <gazebo reference="rh_ffdistal">
    <sensor name="rh_ffdistal_contact" type="contact">
      <always_on>1</always_on>
      <update_rate>1000.0</update_rate>
      <contact>
        <collision>rh_ffdistal_collision</collision>
        <topic>rh_ffdistal_collision</topic>
      </contact>
      <plugin filename="libgazebo_ros_bumper.so" name="rh_ffdistal_gazebo_ros_bumper_controller">
        <alwaysOn>true</alwaysOn>
        <frameName>rh_ffdistal</frameName>
        <updateRate>100.0</updateRate>
        <bumperTopicName>contacts/rh_ff/distal</bumperTopicName>
      </plugin>
    </sensor>
    <mu1 value="500.0"/>
    <mu2 value="500.0"/>
    <kp value="10000000.0"/>
    <kd value="1.0"/>
    <selfCollide>true</selfCollide>
  </gazebo>
  <link name="rh_mfknuckle">
    <inertial>
      <origin rpy="0 0 0" xyz="0 0 0"/>
      <mass value="0.008"/>
      <inertia ixx="0.00000026" ixy="0.0" ixz="0.0" iyy="0.00000026" iyz="0.0" izz="0.00000032"/>
    </inertial>
    <visual>
      <origin rpy="0 0 0" xyz="0 0 0.0005"/>
      <geometry name="rh_mfknuckle_visual">
        <mesh filename="avatar_model/shadow_hand/meshes_drake/f_knuckle_e3m5.obj" scale="0.001 0.001 0.001"/>
      </geometry>
      <material name="LightGrey"/>
    </visual>
    <collision>
      <origin rpy="0 1.5708 0" xyz="0 0 0"/>
      <geometry name="rh_mfknuckle_collision_geom">
        <cylinder length="0.014" radius="0.007"/>
      </geometry>
    </collision>
  </link>
  <joint name="rh_MFJ4" type="revolute">
    <parent link="rh_palm"/>
    <child link="rh_mfknuckle"/>
    <!--<origin xyz="0.033 0 0.095" rpy="0 0 0" />-->
    <origin rpy="0 0 0" xyz="0.011 0 0.099"/>
    <axis xyz="0 -1 0"/>
    <limit effort="2" lower="-0.3490658503988659" upper="0.3490658503988659" velocity="2.0"/>
    <dynamics damping="0.1"/>
  </joint>
  <gazebo reference="rh_MFJ4">
    <provideFeedback>1</provideFeedback>
    <implicitSpringDamper>1</implicitSpringDamper>
  </gazebo>
  <transmission name="rh_mfknuckle_transmission">
    <type>sr_mechanism_model/SimpleTransmission</type>
    <actuator name="rh_MFJ4">
      <mechanicalReduction>1</mechanicalReduction>
    </actuator>
    <joint name="rh_MFJ4">
      <hardwareInterface>EffortJointInterface</hardwareInterface>
      <hardwareInterface>PositionJointInterface</hardwareInterface>
    </joint>
  </transmission>
  <gazebo reference="rh_mfknuckle">
    <!-- knuckle is not highly exposed, so bumper is not useful -->
    <material>Gazebo/Grey</material>
  </gazebo>
  <link name="rh_mfproximal">
    <inertial>
      <mass value="0.030"/>
      <origin xyz="0 0 0.0225"/>
      <inertia ixx="0.0000098" ixy="0.0" ixz="0.0" iyy="0.00001" iyz="0.0" izz="0.0000018"/>
    </inertial>
    <visual>
      <origin rpy="0 0 0" xyz="0 0 0"/>
      <geometry name="rh_mfproximal_visual">
        <mesh filename="avatar_model/shadow_hand/meshes_drake/f_proximal_e3m5.obj" scale="0.001 0.001 0.001"/>
      </geometry>
      <material name="Grey"/>
    </visual>
    <collision>
      <origin rpy="0 0 0" xyz="0 0 0.025"/>
      <geometry name="rh_mfproximal_collision_geom">
        <cylinder length="0.040" radius="0.007"/>
      </geometry>
    </collision>
  </link>
  <joint name="rh_MFJ3" type="revolute">
    <parent link="rh_mfknuckle"/>
    <child link="rh_mfproximal"/>
    <origin rpy="0 0 0" xyz="0 0 0"/>
    <axis xyz="1 0 0"/>
    <limit effort="2" lower="-0.2617993877991494" upper="1.5707963267948966" velocity="2.0"/>
    <dynamics damping="0.1"/>
  </joint>
  <gazebo reference="rh_MFJ3">
    <provideFeedback>1</provideFeedback>
    <implicitSpringDamper>1</implicitSpringDamper>
  </gazebo>
  <transmission name="rh_mfproximal_transmission">
    <type>sr_mechanism_model/SimpleTransmission</type>
    <actuator name="rh_MFJ3">
      <mechanicalReduction>1</mechanicalReduction>
    </actuator>
    <joint name="rh_MFJ3">
      <hardwareInterface>EffortJointInterface</hardwareInterface>
      <hardwareInterface>PositionJointInterface</hardwareInterface>
    </joint>
  </transmission>
  <gazebo reference="rh_mfproximal">
    <selfCollide>true</selfCollide>
  </gazebo>
  <link name="rh_mfmiddle">
    <inertial>
      <origin rpy="0 0 0" xyz="0 0 0.0125"/>
      <mass value="0.017"/>
      <inertia ixx="0.0000026" ixy="0.0" ixz="0.0" iyy="0.0000027" iyz="0.0" izz="0.00000087"/>
    </inertial>
    <visual>
      <origin rpy="0 0 0" xyz="0 0 0"/>
      <geometry name="rh_mfmiddle_visual">
        <mesh filename="avatar_model/shadow_hand/meshes_drake/f_middle_e3m5.obj" scale="0.001 0.001 0.001"/>
      </geometry>
      <material name="Grey"/>
    </visual>
    <collision>
      <origin rpy="0 0 0" xyz="0 0 0.0125"/>
      <geometry name="rh_mfmiddle_collision_geom">
        <cylinder length="0.025" radius="0.007"/>
      </geometry>
    </collision>
    <collision>
      <origin rpy="0 0 0" xyz="0 0 0.0"/>
      <geometry>
        <sphere radius="0.007"/>
      </geometry>
    </collision>
    <collision>
      <origin rpy="0 0 0" xyz="0 0 0.025"/>
      <geometry>
        <sphere radius="0.007"/>
      </geometry>
    </collision>
  </link>
  <joint name="rh_MFJ2" type="revolute">
    <parent link="rh_mfproximal"/>
    <child link="rh_mfmiddle"/>
    <origin rpy="0 0 0" xyz="0 0 0.045"/>
    <axis xyz="1 0 0"/>
    <limit effort="2" lower="0" upper="1.5707963267948966" velocity="2.0"/>
    <dynamics damping="0.1"/>
  </joint>
  <gazebo reference="rh_MFJ2">
    <provideFeedback>1</provideFeedback>
    <implicitSpringDamper>1</implicitSpringDamper>
  </gazebo>
  <transmission name="rh_mfmiddle_transmission">
    <type>sr_mechanism_model/J0Transmission</type>
    <actuator name="rh_MFJ0">
      <mechanicalReduction>1</mechanicalReduction>
    </actuator>
    <joint name="rh_MFJ1">
      <hardwareInterface>EffortJointInterface</hardwareInterface>
      <hardwareInterface>PositionJointInterface</hardwareInterface>
    </joint>
  </transmission>
  <gazebo reference="rh_mfmiddle">
    <selfCollide>true</selfCollide>
  </gazebo>
  <link name="rh_mfdistal">
    <inertial>
      <mass value="0.012"/>
      <origin xyz="0 0 0.012"/>
      <inertia ixx="0.00000094" ixy="0.0" ixz="0.0" iyy="0.0000011" iyz="0.0" izz="0.00000053"/>
    </inertial>
    <visual>
      <origin rpy="0 0 0" xyz="0 0 0"/>
      <geometry name="rh_mfdistal_visual">
        <mesh filename="avatar_model/shadow_hand/meshes_drake/f_distal_bt_sp.obj" scale="0.001 0.001 0.001"/>
      </geometry>
    </visual>
    <collision>
      <origin rpy="0 0 0" xyz="0 0 0"/>
      <geometry name="rh_mfdistal_collision_geom">
        <mesh filename="avatar_model/shadow_hand/meshes_drake/f_distal_bt_sp.obj" scale="0.001 0.001 0.001"/>
      </geometry>
    </collision>
  </link>
  <joint name="rh_MFJ1" type="revolute">
    <parent link="rh_mfmiddle"/>
    <child link="rh_mfdistal"/>
    <origin rpy="0 0 0" xyz="0 0 0.025"/>
    <axis xyz="1 0 0"/>
    <!-- standard distal joint -->
    <limit effort="2" lower="0" upper="1.5707963267948966" velocity="2.0"/>
    <dynamics damping="0.1"/>
  </joint>
  <gazebo reference="rh_MFJ1">
    <provideFeedback>1</provideFeedback>
    <implicitSpringDamper>1</implicitSpringDamper>
  </gazebo>
  <link name="rh_mftip">
    <inertial>
      <mass value="0.001"/>
      <inertia ixx="0.0" ixy="0.0" ixz="0.0" iyy="0.0" iyz="0.0" izz="0.0"/>
    </inertial>
  </link>
  <joint name="rh_MFtip" type="fixed">
    <parent link="rh_mfdistal"/>
    <child link="rh_mftip"/>
    <origin rpy="0 0 0" xyz="0 0 0.026"/>
  </joint>
  <gazebo reference="rh_mfdistal">
    <sensor name="rh_mfdistal_contact" type="contact">
      <always_on>1</always_on>
      <update_rate>1000.0</update_rate>
      <contact>
        <collision>rh_mfdistal_collision</collision>
        <topic>rh_mfdistal_collision</topic>
      </contact>
      <plugin filename="libgazebo_ros_bumper.so" name="rh_mfdistal_gazebo_ros_bumper_controller">
        <alwaysOn>true</alwaysOn>
        <frameName>rh_mfdistal</frameName>
        <updateRate>100.0</updateRate>
        <bumperTopicName>contacts/rh_mf/distal</bumperTopicName>
      </plugin>
    </sensor>
    <mu1 value="500.0"/>
    <mu2 value="500.0"/>
    <kp value="10000000.0"/>
    <kd value="1.0"/>
    <selfCollide>true</selfCollide>
  </gazebo>
  <link name="rh_rfknuckle">
    <inertial>
      <origin rpy="0 0 0" xyz="0 0 0"/>
      <mass value="0.008"/>
      <inertia ixx="0.00000026" ixy="0.0" ixz="0.0" iyy="0.00000026" iyz="0.0" izz="0.00000032"/>
    </inertial>
    <visual>
      <origin rpy="0 0 0" xyz="0 0 0.0005"/>
      <geometry name="rh_rfknuckle_visual">
        <mesh filename="avatar_model/shadow_hand/meshes_drake/f_knuckle_e3m5.obj" scale="0.001 0.001 0.001"/>
      </geometry>
      <material name="LightGrey"/>
    </visual>
    <collision>
      <origin rpy="0 1.5708 0" xyz="0 0 0"/>
      <geometry name="rh_rfknuckle_collision_geom">
        <cylinder length="0.014" radius="0.007"/>
      </geometry>
    </collision>
  </link>
  <joint name="rh_RFJ4" type="revolute">
    <parent link="rh_palm"/>
    <child link="rh_rfknuckle"/>
    <!--<origin xyz="0.033 0 0.095" rpy="0 0 0" />-->
    <origin rpy="0 0 0" xyz="-0.011 0 0.095"/>
    <axis xyz="0 1 0"/>
    <limit effort="2" lower="-0.3490658503988659" upper="0.3490658503988659" velocity="2.0"/>
    <dynamics damping="0.1"/>
  </joint>
  <gazebo reference="rh_RFJ4">
    <provideFeedback>1</provideFeedback>
    <implicitSpringDamper>1</implicitSpringDamper>
  </gazebo>
  <transmission name="rh_rfknuckle_transmission">
    <type>sr_mechanism_model/SimpleTransmission</type>
    <actuator name="rh_RFJ4">
      <mechanicalReduction>1</mechanicalReduction>
    </actuator>
    <joint name="rh_RFJ4">
      <hardwareInterface>EffortJointInterface</hardwareInterface>
      <hardwareInterface>PositionJointInterface</hardwareInterface>
    </joint>
  </transmission>
  <gazebo reference="rh_rfknuckle">
    <!-- knuckle is not highly exposed, so bumper is not useful -->
    <material>Gazebo/Grey</material>
  </gazebo>
  <link name="rh_rfproximal">
    <inertial>
      <mass value="0.030"/>
      <origin xyz="0 0 0.0225"/>
      <inertia ixx="0.0000098" ixy="0.0" ixz="0.0" iyy="0.00001" iyz="0.0" izz="0.0000018"/>
    </inertial>
    <visual>
      <origin rpy="0 0 0" xyz="0 0 0"/>
      <geometry name="rh_rfproximal_visual">
        <mesh filename="avatar_model/shadow_hand/meshes_drake/f_proximal_e3m5.obj" scale="0.001 0.001 0.001"/>
      </geometry>
      <material name="Grey"/>
    </visual>
    <collision>
      <origin rpy="0 0 0" xyz="0 0 0.025"/>
      <geometry name="rh_rfproximal_collision_geom">
        <cylinder length="0.040" radius="0.007"/>
      </geometry>
    </collision>
  </link>
  <joint name="rh_RFJ3" type="revolute">
    <parent link="rh_rfknuckle"/>
    <child link="rh_rfproximal"/>
    <origin rpy="0 0 0" xyz="0 0 0"/>
    <axis xyz="1 0 0"/>
    <limit effort="2" lower="-0.2617993877991494" upper="1.5707963267948966" velocity="2.0"/>
    <dynamics damping="0.1"/>
  </joint>
  <gazebo reference="rh_RFJ3">
    <provideFeedback>1</provideFeedback>
    <implicitSpringDamper>1</implicitSpringDamper>
  </gazebo>
  <transmission name="rh_rfproximal_transmission">
    <type>sr_mechanism_model/SimpleTransmission</type>
    <actuator name="rh_RFJ3">
      <mechanicalReduction>1</mechanicalReduction>
    </actuator>
    <joint name="rh_RFJ3">
      <hardwareInterface>EffortJointInterface</hardwareInterface>
      <hardwareInterface>PositionJointInterface</hardwareInterface>
    </joint>
  </transmission>
  <gazebo reference="rh_rfproximal">
    <selfCollide>true</selfCollide>
  </gazebo>
  <link name="rh_rfmiddle">
    <inertial>
      <origin rpy="0 0 0" xyz="0 0 0.0125"/>
      <mass value="0.017"/>
      <inertia ixx="0.0000026" ixy="0.0" ixz="0.0" iyy="0.0000027" iyz="0.0" izz="0.00000087"/>
    </inertial>
    <visual>
      <origin rpy="0 0 0" xyz="0 0 0"/>
      <geometry name="rh_rfmiddle_visual">
        <mesh filename="avatar_model/shadow_hand/meshes_drake/f_middle_e3m5.obj" scale="0.001 0.001 0.001"/>
      </geometry>
      <material name="Grey"/>
    </visual>
    <collision>
      <origin rpy="0 0 0" xyz="0 0 0.0125"/>
      <geometry name="rh_rfmiddle_collision_geom">
        <cylinder length="0.025" radius="0.007"/>
      </geometry>
    </collision>
    <collision>
      <origin rpy="0 0 0" xyz="0 0 0.0"/>
      <geometry>
        <sphere radius="0.007"/>
      </geometry>
    </collision>
    <collision>
      <origin rpy="0 0 0" xyz="0 0 0.025"/>
      <geometry>
        <sphere radius="0.007"/>
      </geometry>
    </collision>
  </link>
  <joint name="rh_RFJ2" type="revolute">
    <parent link="rh_rfproximal"/>
    <child link="rh_rfmiddle"/>
    <origin rpy="0 0 0" xyz="0 0 0.045"/>
    <axis xyz="1 0 0"/>
    <limit effort="2" lower="0" upper="1.5707963267948966" velocity="2.0"/>
    <dynamics damping="0.1"/>
  </joint>
  <gazebo reference="rh_RFJ2">
    <provideFeedback>1</provideFeedback>
    <implicitSpringDamper>1</implicitSpringDamper>
  </gazebo>
  <transmission name="rh_rfmiddle_transmission">
    <type>sr_mechanism_model/J0Transmission</type>
    <actuator name="rh_RFJ0">
      <mechanicalReduction>1</mechanicalReduction>
    </actuator>
    <joint name="rh_RFJ1">
      <hardwareInterface>EffortJointInterface</hardwareInterface>
      <hardwareInterface>PositionJointInterface</hardwareInterface>
    </joint>
  </transmission>
  <gazebo reference="rh_rfmiddle">
    <selfCollide>true</selfCollide>
  </gazebo>
  <link name="rh_rfdistal">
    <inertial>
      <mass value="0.012"/>
      <origin xyz="0 0 0.012"/>
      <inertia ixx="0.00000094" ixy="0.0" ixz="0.0" iyy="0.0000011" iyz="0.0" izz="0.00000053"/>
    </inertial>
    <visual>
      <origin rpy="0 0 0" xyz="0 0 0"/>
      <geometry name="rh_rfdistal_visual">
        <mesh filename="avatar_model/shadow_hand/meshes_drake/f_distal_bt_sp.obj" scale="0.001 0.001 0.001"/>
      </geometry>
    </visual>
    <collision>
      <origin rpy="0 0 0" xyz="0 0 0"/>
      <geometry name="rh_rfdistal_collision_geom">
        <mesh filename="avatar_model/shadow_hand/meshes_drake/f_distal_bt_sp.obj" scale="0.001 0.001 0.001"/>
      </geometry>
    </collision>
  </link>
  <joint name="rh_RFJ1" type="revolute">
    <parent link="rh_rfmiddle"/>
    <child link="rh_rfdistal"/>
    <origin rpy="0 0 0" xyz="0 0 0.025"/>
    <axis xyz="1 0 0"/>
    <!-- standard distal joint -->
    <limit effort="2" lower="0" upper="1.5707963267948966" velocity="2.0"/>
    <dynamics damping="0.1"/>
  </joint>
  <gazebo reference="rh_RFJ1">
    <provideFeedback>1</provideFeedback>
    <implicitSpringDamper>1</implicitSpringDamper>
  </gazebo>
  <link name="rh_rftip">
    <inertial>
      <mass value="0.001"/>
      <inertia ixx="0.0" ixy="0.0" ixz="0.0" iyy="0.0" iyz="0.0" izz="0.0"/>
    </inertial>
  </link>
  <joint name="rh_RFtip" type="fixed">
    <parent link="rh_rfdistal"/>
    <child link="rh_rftip"/>
    <origin rpy="0 0 0" xyz="0 0 0.026"/>
  </joint>
  <gazebo reference="rh_rfdistal">
    <sensor name="rh_rfdistal_contact" type="contact">
      <always_on>1</always_on>
      <update_rate>1000.0</update_rate>
      <contact>
        <collision>rh_rfdistal_collision</collision>
        <topic>rh_rfdistal_collision</topic>
      </contact>
      <plugin filename="libgazebo_ros_bumper.so" name="rh_rfdistal_gazebo_ros_bumper_controller">
        <alwaysOn>true</alwaysOn>
        <frameName>rh_rfdistal</frameName>
        <updateRate>100.0</updateRate>
        <bumperTopicName>contacts/rh_rf/distal</bumperTopicName>
      </plugin>
    </sensor>
    <mu1 value="500.0"/>
    <mu2 value="500.0"/>
    <kp value="10000000.0"/>
    <kd value="1.0"/>
    <selfCollide>true</selfCollide>
  </gazebo>
  <link name="rh_lfmetacarpal">
    <inertial>
      <origin rpy="0 0.9599 0" xyz="0.03174867647058824 0 0.02235294117647059"/>
      <mass value="0.030"/>
      <inertia ixx="0.0000145" ixy="0.0" ixz="0.0" iyy="0.00001638" iyz="0.0" izz="0.000004272"/>
    </inertial>
    <visual>
      <origin rpy="0 0.9599 0" xyz="0 0 0"/>
      <geometry name="rh_lfmetacarpal_visual">
        <mesh filename="avatar_model/shadow_hand/meshes_drake/lf_metacarpal_e3m5.obj" scale="0.001 0.001 0.001"/>
      </geometry>
      <material name="Grey"/>
    </visual>
    <collision>
      <origin rpy="0 0.9599 0" xyz="0.026986375 0 0.019"/>
      <geometry name="rh_lfmetacarpal_collision_geom">
        <box size="0.018 0.024 0.040"/>
      </geometry>
    </collision>
  </link>
  <joint name="rh_LFJ5" type="revolute">
    <parent link="rh_palm"/>
    <child link="rh_lfmetacarpal"/>
    <origin rpy="0 -0.9599 0" xyz="-0.033 0 0.02071"/>
    <axis xyz="1 0 0"/>
    <limit effort="2" lower="0" upper="0.7853981633974483" velocity="2.0"/>
    <dynamics damping="0.1"/>
  </joint>
  <gazebo reference="rh_LFJ5">
    <provideFeedback>1</provideFeedback>
    <implicitSpringDamper>1</implicitSpringDamper>
  </gazebo>
  <transmission name="rh_lfmetacarpal_transmission">
    <type>sr_mechanism_model/SimpleTransmission</type>
    <actuator name="rh_LFJ5">
      <mechanicalReduction>1</mechanicalReduction>
    </actuator>
    <joint name="rh_LFJ5">
      <hardwareInterface>EffortJointInterface</hardwareInterface>
      <hardwareInterface>PositionJointInterface</hardwareInterface>
    </joint>
  </transmission>
  <gazebo reference="rh_lfmetacarpal">
    <selfCollide>true</selfCollide>
  </gazebo>
  <link name="rh_lfknuckle">
    <inertial>
      <origin rpy="0 0 0" xyz="0 0 0"/>
      <mass value="0.008"/>
      <inertia ixx="0.00000026" ixy="0.0" ixz="0.0" iyy="0.00000026" iyz="0.0" izz="0.00000032"/>
    </inertial>
    <visual>
      <origin rpy="0 0 0" xyz="0 0 0.0005"/>
      <geometry name="rh_lfknuckle_visual">
        <mesh filename="avatar_model/shadow_hand/meshes_drake/f_knuckle_e3m5.obj" scale="0.001 0.001 0.001"/>
      </geometry>
      <material name="LightGrey"/>
    </visual>
    <collision>
      <origin rpy="0 1.5708 0" xyz="0 0 0"/>
      <geometry name="rh_lfknuckle_collision_geom">
        <cylinder length="0.014" radius="0.007"/>
      </geometry>
    </collision>
  </link>
  <joint name="rh_LFJ4" type="revolute">
    <parent link="rh_lfmetacarpal"/>
    <child link="rh_lfknuckle"/>
    <!--<origin xyz="0.033 0 0.095" rpy="0 0 0" />-->
    <origin rpy="0 0.9599 0" xyz="0.05397275 0 0.03779463"/>
    <axis xyz="0 1 0"/>
    <limit effort="2" lower="-0.3490658503988659" upper="0.3490658503988659" velocity="2.0"/>
    <dynamics damping="0.1"/>
  </joint>
  <gazebo reference="rh_LFJ4">
    <provideFeedback>1</provideFeedback>
    <implicitSpringDamper>1</implicitSpringDamper>
  </gazebo>
  <transmission name="rh_lfknuckle_transmission">
    <type>sr_mechanism_model/SimpleTransmission</type>
    <actuator name="rh_LFJ4">
      <mechanicalReduction>1</mechanicalReduction>
    </actuator>
    <joint name="rh_LFJ4">
      <hardwareInterface>EffortJointInterface</hardwareInterface>
      <hardwareInterface>PositionJointInterface</hardwareInterface>
    </joint>
  </transmission>
  <gazebo reference="rh_lfknuckle">
    <!-- knuckle is not highly exposed, so bumper is not useful -->
    <material>Gazebo/Grey</material>
  </gazebo>
  <link name="rh_lfproximal">
    <inertial>
      <mass value="0.030"/>
      <origin xyz="0 0 0.0225"/>
      <inertia ixx="0.0000098" ixy="0.0" ixz="0.0" iyy="0.00001" iyz="0.0" izz="0.0000018"/>
    </inertial>
    <visual>
      <origin rpy="0 0 0" xyz="0 0 0"/>
      <geometry name="rh_lfproximal_visual">
        <mesh filename="avatar_model/shadow_hand/meshes_drake/f_proximal_e3m5.obj" scale="0.001 0.001 0.001"/>
      </geometry>
      <material name="Grey"/>
    </visual>
    <collision>
      <origin rpy="0 0 0" xyz="0 0 0.025"/>
      <geometry name="rh_lfproximal_collision_geom">
        <cylinder length="0.040" radius="0.007"/>
      </geometry>
    </collision>
  </link>
  <joint name="rh_LFJ3" type="revolute">
    <parent link="rh_lfknuckle"/>
    <child link="rh_lfproximal"/>
    <origin rpy="0 0 0" xyz="0 0 0"/>
    <axis xyz="1 0 0"/>
    <limit effort="2" lower="-0.2617993877991494" upper="1.5707963267948966" velocity="2.0"/>
    <dynamics damping="0.1"/>
  </joint>
  <gazebo reference="rh_LFJ3">
    <provideFeedback>1</provideFeedback>
    <implicitSpringDamper>1</implicitSpringDamper>
  </gazebo>
  <transmission name="rh_lfproximal_transmission">
    <type>sr_mechanism_model/SimpleTransmission</type>
    <actuator name="rh_LFJ3">
      <mechanicalReduction>1</mechanicalReduction>
    </actuator>
    <joint name="rh_LFJ3">
      <hardwareInterface>EffortJointInterface</hardwareInterface>
      <hardwareInterface>PositionJointInterface</hardwareInterface>
    </joint>
  </transmission>
  <gazebo reference="rh_lfproximal">
    <selfCollide>true</selfCollide>
  </gazebo>
  <link name="rh_lfmiddle">
    <inertial>
      <origin rpy="0 0 0" xyz="0 0 0.0125"/>
      <mass value="0.017"/>
      <inertia ixx="0.0000026" ixy="0.0" ixz="0.0" iyy="0.0000027" iyz="0.0" izz="0.00000087"/>
    </inertial>
    <visual>
      <origin rpy="0 0 0" xyz="0 0 0"/>
      <geometry name="rh_lfmiddle_visual">
        <mesh filename="avatar_model/shadow_hand/meshes_drake/f_middle_e3m5.obj" scale="0.001 0.001 0.001"/>
      </geometry>
      <material name="Grey"/>
    </visual>
    <collision>
      <origin rpy="0 0 0" xyz="0 0 0.0125"/>
      <geometry name="rh_lfmiddle_collision_geom">
        <cylinder length="0.025" radius="0.007"/>
      </geometry>
    </collision>
    <collision>
      <origin rpy="0 0 0" xyz="0 0 0.0"/>
      <geometry>
        <sphere radius="0.007"/>
      </geometry>
    </collision>
    <collision>
      <origin rpy="0 0 0" xyz="0 0 0.025"/>
      <geometry>
        <sphere radius="0.007"/>
      </geometry>
    </collision>
  </link>
  <joint name="rh_LFJ2" type="revolute">
    <parent link="rh_lfproximal"/>
    <child link="rh_lfmiddle"/>
    <origin rpy="0 0 0" xyz="0 0 0.045"/>
    <axis xyz="1 0 0"/>
    <limit effort="2" lower="0" upper="1.5707963267948966" velocity="2.0"/>
    <dynamics damping="0.1"/>
  </joint>
  <gazebo reference="rh_LFJ2">
    <provideFeedback>1</provideFeedback>
    <implicitSpringDamper>1</implicitSpringDamper>
  </gazebo>
  <transmission name="rh_lfmiddle_transmission">
    <type>sr_mechanism_model/J0Transmission</type>
    <actuator name="rh_LFJ0">
      <mechanicalReduction>1</mechanicalReduction>
    </actuator>
    <joint name="rh_LFJ1">
      <hardwareInterface>EffortJointInterface</hardwareInterface>
      <hardwareInterface>PositionJointInterface</hardwareInterface>
    </joint>
  </transmission>
  <gazebo reference="rh_lfmiddle">
    <selfCollide>true</selfCollide>
  </gazebo>
  <link name="rh_lfdistal">
    <inertial>
      <mass value="0.012"/>
      <origin xyz="0 0 0.012"/>
      <inertia ixx="0.00000094" ixy="0.0" ixz="0.0" iyy="0.0000011" iyz="0.0" izz="0.00000053"/>
    </inertial>
    <visual>
      <origin rpy="0 0 0" xyz="0 0 0"/>
      <geometry name="rh_lfdistal_visual">
        <mesh filename="avatar_model/shadow_hand/meshes_drake/f_distal_bt_sp.obj" scale="0.001 0.001 0.001"/>
      </geometry>
    </visual>
    <collision>
      <origin rpy="0 0 0" xyz="0 0 0"/>
      <geometry name="rh_lfdistal_collision_geom">
        <mesh filename="avatar_model/shadow_hand/meshes_drake/f_distal_bt_sp.obj" scale="0.001 0.001 0.001"/>
      </geometry>
    </collision>
  </link>
  <joint name="rh_LFJ1" type="revolute">
    <parent link="rh_lfmiddle"/>
    <child link="rh_lfdistal"/>
    <origin rpy="0 0 0" xyz="0 0 0.025"/>
    <axis xyz="1 0 0"/>
    <!-- standard distal joint -->
    <limit effort="2" lower="0" upper="1.5707963267948966" velocity="2.0"/>
    <dynamics damping="0.1"/>
  </joint>
  <gazebo reference="rh_LFJ1">
    <provideFeedback>1</provideFeedback>
    <implicitSpringDamper>1</implicitSpringDamper>
  </gazebo>
  <link name="rh_lftip">
    <inertial>
      <mass value="0.001"/>
      <inertia ixx="0.0" ixy="0.0" ixz="0.0" iyy="0.0" iyz="0.0" izz="0.0"/>
    </inertial>
  </link>
  <joint name="rh_LFtip" type="fixed">
    <parent link="rh_lfdistal"/>
    <child link="rh_lftip"/>
    <origin rpy="0 0 0" xyz="0 0 0.026"/>
  </joint>
  <gazebo reference="rh_lfdistal">
    <sensor name="rh_lfdistal_contact" type="contact">
      <always_on>1</always_on>
      <update_rate>1000.0</update_rate>
      <contact>
        <collision>rh_lfdistal_collision</collision>
        <topic>rh_lfdistal_collision</topic>
      </contact>
      <plugin filename="libgazebo_ros_bumper.so" name="rh_lfdistal_gazebo_ros_bumper_controller">
        <alwaysOn>true</alwaysOn>
        <frameName>rh_lfdistal</frameName>
        <updateRate>100.0</updateRate>
        <bumperTopicName>contacts/rh_lf/distal</bumperTopicName>
      </plugin>
    </sensor>
    <mu1 value="500.0"/>
    <mu2 value="500.0"/>
    <kp value="10000000.0"/>
    <kd value="1.0"/>
    <selfCollide>true</selfCollide>
  </gazebo>
  <link name="rh_thbase">
    <inertial>
      <mass value="0.010"/>
      <origin rpy="0 0 0" xyz="0 0 0"/>
      <inertia ixx="0.00000016" ixy="0.0" ixz="0.0" iyy="0.00000016" iyz="0.0" izz="0.00000016"/>
    </inertial>
    <visual>
      <origin rpy="0 0 0" xyz="0 0 0"/>
      <geometry name="rh_thbase_visual">
        <box size="0.001 0.001 0.001"/>
      </geometry>
      <material name="shadow_thbase_material">
        <color rgba="0.5 0.5 0.5 1.0"/>
      </material>
    </visual>
    <collision>
      <origin rpy="0 0 0" xyz="0 0 0"/>
      <geometry name="rh_thbase_collision_geom">
        <sphere radius="0.011"/>
      </geometry>
    </collision>
  </link>
  <joint name="rh_THJ5" type="revolute">
    <parent link="rh_palm"/>
    <child link="rh_thbase"/>
    <origin rpy="-0.7853981633974483 0 -1.5707963267948966" xyz="0.034 -0.00858 0.029"/>
    <axis xyz="0 0 -1"/>
    <limit effort="5.0" lower="-1.0471975511965976" upper="1.0471975511965976" velocity="4.0"/>
    <dynamics damping="0.2"/>
  </joint>
  <gazebo reference="rh_THJ5">
    <provideFeedback>1</provideFeedback>
    <implicitSpringDamper>1</implicitSpringDamper>
  </gazebo>
  <transmission name="rh_thbase_transmission">
    <type>sr_mechanism_model/SimpleTransmission</type>
    <actuator name="rh_THJ5">
      <mechanicalReduction>1</mechanicalReduction>
    </actuator>
    <joint name="rh_THJ5">
      <hardwareInterface>EffortJointInterface</hardwareInterface>
      <hardwareInterface>PositionJointInterface</hardwareInterface>
    </joint>
  </transmission>
  <gazebo reference="rh_thbase">
    <!-- base is inside the proximal and not exposed, so bumper is not needed -->
    <selfCollide>false</selfCollide>
  </gazebo>
  <link name="rh_thproximal">
    <inertial>
      <mass value="0.040"/>
      <origin rpy="0 0 0" xyz="0 0 0.019"/>
      <inertia ixx="0.0000136" ixy="0.0" ixz="0.0" iyy="0.0000136" iyz="0.0" izz="0.00000313"/>
    </inertial>
    <visual>
      <origin rpy="0 0 1.5707963267948966" xyz="0 0 0"/>
      <geometry name="rh_thproximal_visual">
        <mesh filename="avatar_model/shadow_hand/meshes_drake/th_proximal_e3m5.obj" scale="0.001 0.001 0.001"/>
      </geometry>
      <material name="shadow_thproximal_material">
        <color rgba="0.2 0.2 0.2 1.0"/>
      </material>
    </visual>
    <collision>
      <origin rpy="0 0 0" xyz="0 0 0.020"/>
      <geometry name="rh_thproximal_collision_geom">
        <cylinder length="0.018" radius="0.012"/>
      </geometry>
    </collision>
  </link>
  <joint name="rh_THJ4" type="revolute">
    <parent link="rh_thbase"/>
    <child link="rh_thproximal"/>
    <origin rpy="0 0 0" xyz="0 0 0"/>
    <axis xyz="0 1 0"/>
    <limit effort="3" lower="0.0" upper="1.2217304763960306" velocity="4.0"/>
    <dynamics damping="0.2"/>
  </joint>
  <gazebo reference="rh_THJ4">
    <provideFeedback>1</provideFeedback>
    <implicitSpringDamper>1</implicitSpringDamper>
  </gazebo>
  <transmission name="rh_thproximal_transmission">
    <type>sr_mechanism_model/SimpleTransmission</type>
    <actuator name="rh_THJ4">
      <mechanicalReduction>1</mechanicalReduction>
    </actuator>
    <joint name="rh_THJ4">
      <hardwareInterface>EffortJointInterface</hardwareInterface>
      <hardwareInterface>PositionJointInterface</hardwareInterface>
    </joint>
  </transmission>
  <gazebo reference="rh_thproximal">
    <selfCollide>false</selfCollide>
  </gazebo>
  <link name="rh_thhub">
    <inertial>
      <mass value="0.005"/>
      <origin rpy="0 0 0" xyz="0 0 0"/>
      <inertia ixx="0.000001" ixy="0.0" ixz="0.0" iyy="0.000001" iyz="0.0" izz="0.0000003"/>
    </inertial>
    <visual>
      <origin rpy="0 0 0" xyz="0 0 0"/>
      <geometry name="rh_thhub_visual">
        <box size="0.001 0.001 0.001"/>
      </geometry>
      <material name="shadow_thhub_material">
        <color rgba="0.7 0.7 0.7 1.0"/>
      </material>
    </visual>
    <collision>
      <origin rpy="0 0 0" xyz="0 0 0"/>
      <geometry name="rh_thhub_collision_geom">
        <sphere radius="0.010"/>
      </geometry>
    </collision>
  </link>
  <joint name="rh_THJ3" type="revolute">
    <parent link="rh_thproximal"/>
    <child link="rh_thhub"/>
    <origin rpy="0 0 0" xyz="0 0 0.038"/>
    <axis xyz="0 1 0"/>
    <limit effort="2.0" lower="-0.20943951023931953" upper="0.20943951023931953" velocity="4.0"/>
    <dynamics damping="0.2"/>
  </joint>
  <gazebo reference="rh_THJ3">
    <provideFeedback>1</provideFeedback>
    <implicitSpringDamper>1</implicitSpringDamper>
  </gazebo>
  <transmission name="rh_thhub_transmission">
    <type>sr_mechanism_model/SimpleTransmission</type>
    <actuator name="rh_THJ3">
      <mechanicalReduction>1</mechanicalReduction>
    </actuator>
    <joint name="rh_THJ3">
      <hardwareInterface>EffortJointInterface</hardwareInterface>
      <hardwareInterface>PositionJointInterface</hardwareInterface>
    </joint>
  </transmission>
  <gazebo reference="rh_thhub">
    <!-- hub is inside the proximal and not exposed, so bumper is not needed -->
    <selfCollide>false</selfCollide>
  </gazebo>
  <link name="rh_thmiddle">
    <inertial>
      <mass value="0.020"/>
      <origin rpy="0 0 0" xyz="0 0 0.016"/>
      <inertia ixx="0.0000051" ixy="0.0" ixz="0.0" iyy="0.0000051" iyz="0.0" izz="0.00000121"/>
    </inertial>
    <visual>
      <origin rpy="0 0 1.5707963267948966" xyz="0 0 0"/>
      <geometry name="rh_thmiddle_visual">
        <mesh filename="avatar_model/shadow_hand/meshes_drake/th_middle_e3m5.obj" scale="0.001 0.001 0.001"/>
      </geometry>
      <material name="shadow_thmiddle_material">
        <color rgba="0.2 0.2 0.2 1.0"/>
      </material>
    </visual>
    <collision>
      <origin rpy="0 0 0" xyz="0 0 0.012"/>
      <geometry name="rh_thmiddle_collision_geom">
        <cylinder length="0.018" radius="0.011"/>
      </geometry>
    </collision>
    <collision>
      <origin rpy="0 0 0" xyz="0 0 0.019"/>
      <geometry>
        <sphere radius="0.011"/>
      </geometry>
    </collision>
    <collision>
      <origin rpy="0 1.5708 0" xyz="0 0 0.032"/>
      <geometry>
        <cylinder length="0.014" radius="0.010"/>
      </geometry>
    </collision>
  </link>
  <joint name="rh_THJ2" type="revolute">
    <parent link="rh_thhub"/>
    <child link="rh_thmiddle"/>
    <origin rpy="0 0 0" xyz="0 0 0"/>
    <axis xyz="1 0 0"/>
    <limit effort="2.0" lower="-0.6981317007977318" upper="0.6981317007977318" velocity="2.0"/>
    <dynamics damping="0.1"/>
  </joint>
  <gazebo reference="rh_THJ2">
    <provideFeedback>1</provideFeedback>
    <implicitSpringDamper>1</implicitSpringDamper>
  </gazebo>
  <transmission name="rh_thmiddle_transmission">
    <type>sr_mechanism_model/SimpleTransmission</type>
    <actuator name="rh_THJ2">
      <mechanicalReduction>1</mechanicalReduction>
    </actuator>
    <joint name="rh_THJ2">
      <hardwareInterface>EffortJointInterface</hardwareInterface>
      <hardwareInterface>PositionJointInterface</hardwareInterface>
    </joint>
  </transmission>
  <gazebo reference="rh_thmiddle">
  </gazebo>
  <!-- common -->
  <link name="rh_thdistal">
    <inertial>
      <mass value="0.016"/>
      <origin rpy="0 0 0" xyz="0 0 0.01375"/>
      <inertia ixx="0.0000021" ixy="0.0" ixz="0.0" iyy="0.0000022" iyz="0.0" izz="0.000001"/>
    </inertial>
    <visual>
      <origin rpy="0 0 0" xyz="0 0 0"/>
      <geometry name="rh_thdistal_visual">
        <mesh filename="avatar_model/shadow_hand/meshes_drake/th_distal_bt_sp.obj" scale="0.001 0.001 0.001"/>
      </geometry>
      <material name="shadow_thmiddle_material">
        <color rgba="0.2 0.2 0.2 1.0"/>
      </material>
    </visual>
    <collision>
      <origin rpy="0 0 0" xyz="0 0 0"/>
      <geometry name="rh_thmiddle_collision_geom">
        <mesh filename="avatar_model/shadow_hand/meshes_drake/th_distal_bt_sp.obj" scale="0.001 0.001 0.001"/>
      </geometry>
    </collision>
  </link>
  <joint name="rh_THJ1" type="revolute">
    <parent link="rh_thmiddle"/>
    <child link="rh_thdistal"/>
    <origin rpy="0 0 0" xyz="0 0 0.032"/>
    <axis xyz="1 0 0"/>
    <limit effort="1.0" lower="-0.2617993877991494" upper="1.5707963267948966" velocity="4.0"/>
    <dynamics damping="0.2"/>
  </joint>
  <gazebo reference="rh_THJ1">
    <provideFeedback>1</provideFeedback>
    <implicitSpringDamper>1</implicitSpringDamper>
  </gazebo>
  <link name="rh_thtip">
    <inertial>
      <mass value="0.001"/>
      <inertia ixx="0.0" ixy="0.0" ixz="0.0" iyy="0.0" iyz="0.0" izz="0.0"/>
    </inertial>
  </link>
  <joint name="rh_thtip" type="fixed">
    <parent link="rh_thdistal"/>
    <child link="rh_thtip"/>
    <origin rpy="0 0 0" xyz="0 0 0.0275"/>
  </joint>
  <gazebo reference="rh_thdistal">
    <sensor name="rh_thdistal_contact" type="contact">
      <always_on>1</always_on>
      <update_rate>1000.0</update_rate>
      <contact>
        <collision>rh_thdistal_collision</collision>
        <topic>rh_thdistal_collision</topic>
      </contact>
      <plugin filename="libgazebo_ros_bumper.so" name="rh_thdistal_gazebo_ros_bumper_controller">
        <alwaysOn>true</alwaysOn>
        <frameName>rh_thdistal</frameName>
        <updateRate>100.0</updateRate>
        <bumperTopicName>contacts/rh_th/distal</bumperTopicName>
      </plugin>
    </sensor>
    <mu1 value="500.0"/>
    <mu2 value="500.0"/>
    <kp value="10000000.0"/>
    <kd value="1.0"/>
    <selfCollide>true</selfCollide>
  </gazebo>
  <transmission name="rh_thdistal_transmission">
    <type>sr_mechanism_model/SimpleTransmission</type>
    <actuator name="rh_THJ1">
      <mechanicalReduction>1</mechanicalReduction>
    </actuator>
    <joint name="rh_THJ1">
      <hardwareInterface>EffortJointInterface</hardwareInterface>
      <hardwareInterface>PositionJointInterface</hardwareInterface>
    </joint>
  </transmission>
  <!-- Gofa 1 Workspace (this should look towards the working space, centered on Gofa 1) -->
  <link name="gofa1_workspace"/>
  <joint name="gofa1_base_link" type="fixed">
    <parent link="gofa1_workspace"/>
    <child link="gofa1_base_link"/>
    <origin rpy="0.0 -0.523599 0.0" xyz="0.0 0.0 0.095"/>
  </joint>
  <!-- Gofa 2 Workspace (this should look towards the working space, centered on Gofa 2) -->
  <link name="gofa2_workspace"/>
  <joint name="gofa2_workspace" type="fixed">
    <parent link="gofa2_workspace"/>
    <child link="gofa2_base_link"/>
    <origin rpy="0.0 -0.523599 3.14" xyz="0.0 0.0 0.095"/>
  </joint>
  <!-- Distance between arms & rotation -->
  <joint name="gofa_dist" type="fixed">
    <parent link="gofa1_workspace"/>
    <child link="gofa2_workspace"/>
    <origin rpy="0.0 0.0 0.0" xyz="0.5687 0.0 0.0"/>
  </joint>
  <!-- Distance to Avatar middle assembly -->
  <link name="gofas_midpoint"/>
  <joint name="gofas_midpoint" type="fixed">
    <parent link="gofa1_workspace"/>
    <child link="gofas_midpoint"/>
    <origin rpy="0.0 0.0 0.0" xyz="0.3175 0.0 0.0"/>
  </joint>
  <material name="xarm6_Black">
    <color rgba="0.0 0.0 0.0 1.0"/>
  </material>
  <material name="xarm6_Red">
    <color rgba="0.8 0.0 0.0 1.0"/>
  </material>
  <material name="xarm6_White">
    <color rgba="1.0 1.0 1.0 1.0"/>
  </material>
  <material name="xarm6_Silver">
    <color rgba="0.753 0.753 0.753 1.0"/>
  </material>
  <link name="xarm6_link_base">
    <inertial>
      <origin rpy="0 0 0" xyz="0.0 0.0 0.09103"/>
      <mass value="2.7"/>
      <inertia ixx="0.00494875" ixy="-3.5E-06" ixz="1.25E-05" iyy="0.00494174" iyz="1.67E-06" izz="0.002219"/>
    </inertial>
    <visual>
      <geometry>
        <mesh filename="avatar_model/xarm/visual_obj/base.obj"/>
      </geometry>
      <origin rpy="0 0 0" xyz="0 0 0"/>
      <material name="xarm6_White"/>
    </visual>
    <collision>
      <geometry>
        <mesh filename="avatar_model/xarm/visual_obj/base.obj"/>
      </geometry>
      <origin rpy="0 0 0" xyz="0 0 0"/>
    </collision>
  </link>
  <link name="xarm6_link1">
    <visual>
      <geometry>
        <mesh filename="avatar_model/xarm/visual_obj/link1.obj"/>
      </geometry>
      <origin rpy="0 0 0" xyz="0 0 0"/>
      <material name="xarm6_White"/>
    </visual>
    <collision>
      <geometry>
        <mesh filename="avatar_model/xarm/visual_obj/link1.obj"/>
      </geometry>
      <origin rpy="0 0 0" xyz="0 0 0"/>
    </collision>
  </link>
  <joint name="xarm6_joint1" type="revolute">
    <parent link="xarm6_link_base"/>
    <child link="xarm6_link1"/>
    <origin rpy="0 0 0" xyz="0 0 0.267"/>
    <axis xyz="0 0 1"/>
    <limit effort="50.0" lower="-6.283185307179586" upper="6.283185307179586" velocity="3.14"/>
    <dynamics damping="1.0" friction="1.0"/>
  </joint>
  <link name="xarm6_link2">
    <visual>
      <geometry>
        <mesh filename="avatar_model/xarm/visual_obj/link2.obj"/>
      </geometry>
      <origin rpy="0 0 0" xyz="0 0 0"/>
      <material name="xarm6_White"/>
    </visual>
    <collision>
      <geometry>
        <mesh filename="avatar_model/xarm/visual_obj/link2.obj"/>
      </geometry>
      <origin rpy="0 0 0" xyz="0 0 0"/>
    </collision>
  </link>
  <joint name="xarm6_joint2" type="revolute">
    <parent link="xarm6_link1"/>
    <child link="xarm6_link2"/>
    <origin rpy="-1.5708 0 0" xyz="0 0 0"/>
    <axis xyz="0 0 1"/>
    <limit effort="50.0" lower="-2.059" upper="2.0944" velocity="3.14"/>
    <dynamics damping="1.0" friction="1.0"/>
  </joint>
  <link name="xarm6_link3">
    <visual>
      <geometry>
        <mesh filename="avatar_model/xarm/visual_obj/link3.obj"/>
      </geometry>
      <origin rpy="0 0 0" xyz="0 0 0"/>
      <material name="xarm6_White"/>
    </visual>
    <collision>
      <geometry>
        <mesh filename="avatar_model/xarm/visual_obj/link3.obj"/>
      </geometry>
      <origin rpy="0 0 0" xyz="0 0 0"/>
    </collision>
  </link>
  <joint name="xarm6_joint3" type="revolute">
    <parent link="xarm6_link2"/>
    <child link="xarm6_link3"/>
    <origin rpy="0 0 0" xyz="0.0535 -0.2845 0"/>
    <axis xyz="0 0 1"/>
    <limit effort="32.0" lower="-3.927" upper="0.19198" velocity="3.14"/>
    <dynamics damping="1.0" friction="1.0"/>
  </joint>
  <link name="xarm6_link4">
    <visual>
      <geometry>
        <mesh filename="avatar_model/xarm/visual_obj/link4.obj"/>
      </geometry>
      <origin rpy="0 0 0" xyz="0 0 0"/>
      <material name="xarm6_White"/>
    </visual>
    <collision>
      <geometry>
        <mesh filename="avatar_model/xarm/visual_obj/link4.obj"/>
      </geometry>
      <origin rpy="0 0 0" xyz="0 0 0"/>
    </collision>
  </link>
  <joint name="xarm6_joint4" type="revolute">
    <parent link="xarm6_link3"/>
    <child link="xarm6_link4"/>
    <origin rpy="-1.5708 0 0" xyz="0.0775 0.3425 0"/>
    <axis xyz="0 0 1"/>
    <limit effort="32.0" lower="-6.283185307179586" upper="6.283185307179586" velocity="3.14"/>
    <dynamics damping="1.0" friction="1.0"/>
  </joint>
  <link name="xarm6_link5">
    <visual>
      <geometry>
        <mesh filename="avatar_model/xarm/visual_obj/link5.obj"/>
      </geometry>
      <origin rpy="0 0 0" xyz="0 0 0"/>
      <material name="xarm6_White"/>
    </visual>
    <collision>
      <geometry>
        <mesh filename="avatar_model/xarm/visual_obj/link5.obj"/>
      </geometry>
      <origin rpy="0 0 0" xyz="0 0 0"/>
    </collision>
  </link>
  <joint name="xarm6_joint5" type="revolute">
    <parent link="xarm6_link4"/>
    <child link="xarm6_link5"/>
    <origin rpy="1.5708 0 0" xyz="0 0 0"/>
    <axis xyz="0 0 1"/>
    <limit effort="32.0" lower="-1.69297" upper="3.141592653589793" velocity="3.14"/>
    <dynamics damping="1.0" friction="1.0"/>
  </joint>
  <link name="xarm6_link6">
    <visual>
      <geometry>
        <mesh filename="avatar_model/xarm/visual_obj/link6.obj"/>
      </geometry>
      <origin rpy="0 0 0" xyz="0 0 0"/>
      <material name="xarm6_Silver"/>
    </visual>
    <collision>
      <geometry>
        <mesh filename="avatar_model/xarm/end_tool/collision/end_tool.obj"/>
      </geometry>
      <origin rpy="0 0 0" xyz="0 0 0"/>
    </collision>
  </link>
  <joint name="xarm6_joint6" type="revolute">
    <parent link="xarm6_link5"/>
    <child link="xarm6_link6"/>
    <origin rpy="-1.5708 0 0" xyz="0.076 0.097 0"/>
    <axis xyz="0 0 1"/>
    <limit effort="20.0" lower="-6.283185307179586" upper="6.283185307179586" velocity="3.14"/>
    <dynamics damping="1.0" friction="1.0"/>
  </joint>
  <!-- <link name="${prefix}link_eef" />
    <joint name="${prefix}joint_eef" type="fixed">
      <origin xyz="0 0 0" rpy="0 0 0" />
      <parent link="${prefix}link6" />
      <child link="${prefix}link_eef" />
    </joint> -->
  <!-- Neck Cam Assm Link - bbox -->
  <link name="neck_cam_assm_mount">
    <visual>
      <origin rpy="0 0 0" xyz="0 0 -0.065"/>
      <geometry>
        <box size="0.055 0.12 0.15"/>
      </geometry>
    </visual>
    <collision>
      <origin rpy="0 0 0" xyz="0 0 -0.065"/>
      <geometry>
        <box size="0.055 0.12 0.155"/>
      </geometry>
    </collision>
  </link>
  <joint name="neck_cam_assm_mount" type="fixed">
    <parent link="xarm6_link6"/>
    <child link="neck_cam_assm_mount"/>
    <origin rpy="1.57 -1.57 0.0" xyz="0.0 -0.1067 0.0225"/>
    <!-- -0.1067 physically measured with calipers from xarm ee center to fish-eye lens -->
  </joint>
  <!-- Neck Cam - consistent with hmd_reconciled means z-forward, x-down, y-left-->
  <link name="neck_cam_assm"/>
  <joint name="neck_cam_assm" type="fixed">
    <parent link="neck_cam_assm_mount"/>
    <child link="neck_cam_assm"/>
    <origin rpy="0 0 3.14" xyz="0.0 0.0 0.0"/>
  </joint>
  <link name="neck_cam_left_eye"/>
  <joint name="neck_cam_left_eye" type="fixed">
    <parent link="neck_cam_assm"/>
    <child link="neck_cam_left_eye"/>
    <origin rpy="0 0 0" xyz="0.0 0.034 0.0"/>
  </joint>
  <link name="neck_cam_right_eye"/>
  <joint name="neck_cam_right_eye" type="fixed">
    <parent link="neck_cam_assm"/>
    <child link="neck_cam_right_eye"/>
    <origin rpy="0 0 0" xyz="0.0 -0.034 0.0"/>
  </joint>
  <!-- Neck workspace -->
  <link name="xarm6_workspace"/>
  <joint name="xarm6_workspace" type="fixed">
    <parent link="xarm6_workspace"/>
    <child link="xarm6_link_base"/>
    <origin rpy="0.0 0.0 1.517" xyz="0.0 0.0 0.0"/>
  </joint>
  <!-- Neck w.r.t. Gofa1  (measured as 12") -->
  <joint name="neck_dist" type="fixed">
    <parent link="gofa1_workspace"/>
    <child link="xarm6_workspace"/>
    <origin rpy="0.0 0.0 0.0" xyz="0.264 0.3683 0.0"/>
  </joint>
  <!-- Center of Avatar task workspace -->
  <link name="avatar_task_ws"/>
  <joint name="avatar_task_ws" type="fixed">
    <parent link="xarm6_workspace"/>
    <child link="avatar_task_ws"/>
    <origin rpy="0.0 0.0 0.0" xyz="0.0 0.6 0.0"/>
  </joint>
  <ros2_control name="FakeSystem" type="system">
    <hardware>
      <!-- By default, set up controllers for simulation. This won't work on real hardware -->
      <plugin>mock_components/GenericSystem</plugin>
    </hardware>
    <joint name="gofa1_joint_1">
      <command_interface name="position"/>
      <state_interface name="position">
        <param name="initial_value">0</param>
      </state_interface>
      <state_interface name="velocity"/>
    </joint>
    <joint name="gofa1_joint_2">
      <command_interface name="position"/>
      <state_interface name="position">
        <param name="initial_value">0</param>
      </state_interface>
      <state_interface name="velocity"/>
    </joint>
    <joint name="gofa1_joint_3">
      <command_interface name="position"/>
      <state_interface name="position">
        <param name="initial_value">0</param>
      </state_interface>
      <state_interface name="velocity"/>
    </joint>
    <joint name="gofa1_joint_4">
      <command_interface name="position"/>
      <state_interface name="position">
        <param name="initial_value">0</param>
      </state_interface>
      <state_interface name="velocity"/>
    </joint>
    <joint name="gofa1_joint_5">
      <command_interface name="position"/>
      <state_interface name="position">
        <param name="initial_value">0</param>
      </state_interface>
      <state_interface name="velocity"/>
    </joint>
    <joint name="gofa1_joint_6">
      <command_interface name="position"/>
      <state_interface name="position">
        <param name="initial_value">0</param>
      </state_interface>
      <state_interface name="velocity"/>
    </joint>
    <joint name="lh_WRJ2">
      <command_interface name="position"/>
      <state_interface name="position">
        <param name="initial_value">0</param>
      </state_interface>
      <state_interface name="velocity"/>
    </joint>
    <joint name="lh_WRJ1">
      <command_interface name="position"/>
      <state_interface name="position">
        <param name="initial_value">0</param>
      </state_interface>
      <state_interface name="velocity"/>
    </joint>
    <joint name="gofa2_joint_1">
      <command_interface name="position"/>
      <state_interface name="position">
        <param name="initial_value">0</param>
      </state_interface>
      <state_interface name="velocity"/>
    </joint>
    <joint name="gofa2_joint_2">
      <command_interface name="position"/>
      <state_interface name="position">
        <param name="initial_value">0</param>
      </state_interface>
      <state_interface name="velocity"/>
    </joint>
    <joint name="gofa2_joint_3">
      <command_interface name="position"/>
      <state_interface name="position">
        <param name="initial_value">0</param>
      </state_interface>
      <state_interface name="velocity"/>
    </joint>
    <joint name="gofa2_joint_4">
      <command_interface name="position"/>
      <state_interface name="position">
        <param name="initial_value">0</param>
      </state_interface>
      <state_interface name="velocity"/>
    </joint>
    <joint name="gofa2_joint_5">
      <command_interface name="position"/>
      <state_interface name="position">
        <param name="initial_value">0</param>
      </state_interface>
      <state_interface name="velocity"/>
    </joint>
    <joint name="gofa2_joint_6">
      <command_interface name="position"/>
      <state_interface name="position">
        <param name="initial_value">0</param>
      </state_interface>
      <state_interface name="velocity"/>
    </joint>
    <joint name="rh_WRJ2">
      <command_interface name="position"/>
      <state_interface name="position">
        <param name="initial_value">0</param>
      </state_interface>
      <state_interface name="velocity"/>
    </joint>
    <joint name="rh_WRJ1">
      <command_interface name="position"/>
      <state_interface name="position">
        <param name="initial_value">0</param>
      </state_interface>
      <state_interface name="velocity"/>
    </joint>
    <joint name="xarm6_joint1">
      <command_interface name="position"/>
      <state_interface name="position">
        <param name="initial_value">0</param>
      </state_interface>
      <state_interface name="velocity"/>
    </joint>
    <joint name="xarm6_joint2">
      <command_interface name="position"/>
      <state_interface name="position">
        <param name="initial_value">0</param>
      </state_interface>
      <state_interface name="velocity"/>
    </joint>
    <joint name="xarm6_joint3">
      <command_interface name="position"/>
      <state_interface name="position">
        <param name="initial_value">0</param>
      </state_interface>
      <state_interface name="velocity"/>
    </joint>
    <joint name="xarm6_joint4">
      <command_interface name="position"/>
      <state_interface name="position">
        <param name="initial_value">0</param>
      </state_interface>
      <state_interface name="velocity"/>
    </joint>
    <joint name="xarm6_joint5">
      <command_interface name="position"/>
      <state_interface name="position">
        <param name="initial_value">0</param>
      </state_interface>
      <state_interface name="velocity"/>
    </joint>
    <joint name="xarm6_joint6">
      <command_interface name="position"/>
      <state_interface name="position">
        <param name="initial_value">0</param>
      </state_interface>
      <state_interface name="velocity"/>
    </joint>
  </ros2_control>
</robot>
